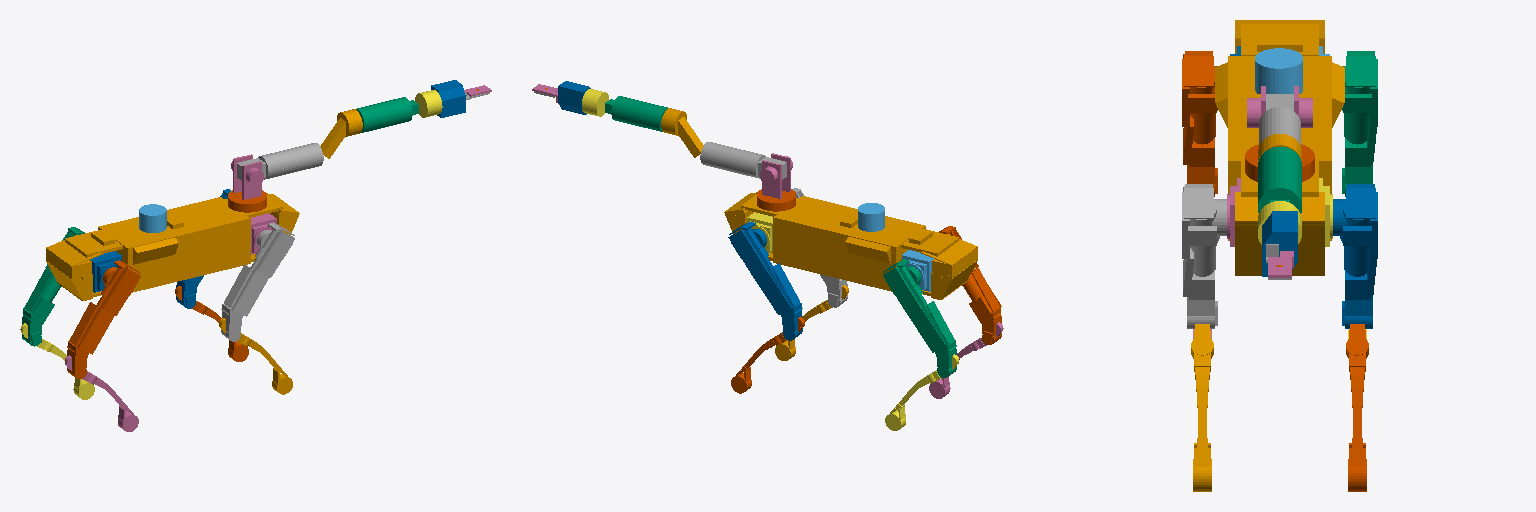
--- What the picture shows (computed from the rendered views, not written in the file) ---
Views: 3 orthographic renders of the robot side by side, from view 1: azimuth 30°, elevation 25°; view 2: azimuth 150°, elevation 25°; view 3: azimuth 270°, elevation 25°.
Robot: SpotArm — 78 links, 77 joints (18 revolute, 4 continuous, 3 prismatic, 52 fixed); root link base_link; default pose: all joints at 0.
Links seen in each view (by area): view 1: base_link, front right upperarm, rear right upperarm, rear left upperarm, spotarm_link2, spotarm_link5, spotarm_link1, spotarm_link3, front, front right forearm, rear right forearm, Velodyne_Puck (+6 smaller); view 2: base_link, front left upperarm, rear left upperarm, rear right upperarm, spotarm_link2, spotarm_link5, spotarm_link1, spotarm_link3, rear left forearm, front left forearm, front, Velodyne_Puck (+6 smaller); view 3: base_link, front right upperarm, front left upperarm, rear right upperarm, rear left upperarm, front right forearm, front left forearm, spotarm_link5, Velodyne_Puck, spotarm_link2, front, spotarm_link1 (+4 smaller).
Link boxes in pixels (x1,y1,x2,y2): base_link: (46,193,299,300); front right upperarm: (221,223,294,341); rear right upperarm: (67,260,140,378); rear left upperarm: (22,227,84,346); spotarm_link2: (237,143,323,180); spotarm_link5: (356,97,418,132); spotarm_link1: (231,154,263,199); spotarm_link3: (320,109,362,158); front: (431,80,465,117); front right forearm: (219,318,292,394); rear right forearm: (65,355,138,431); Velodyne_Puck: (139,204,166,232); base_link: (724,192,977,299); front left upperarm: (728,222,802,340); rear left upperarm: (883,259,956,377); rear right upperarm: (939,226,1001,344); spotarm_link2: (700,142,786,179); spotarm_link5: (605,96,667,131); spotarm_link1: (760,153,792,198); spotarm_link3: (661,108,703,157); rear left forearm: (885,354,958,430); front left forearm: (731,317,804,393); front: (558,81,590,114); Velodyne_Puck: (858,203,884,231); base_link: (1215,20,1344,275); front right upperarm: (1182,184,1226,328); front left upperarm: (1333,184,1377,328); rear right upperarm: (1182,51,1217,196); rear left upperarm: (1342,51,1377,196); front right forearm: (1191,324,1213,491); front left forearm: (1346,324,1368,491); spotarm_link5: (1258,147,1301,213); Velodyne_Puck: (1255,48,1302,93); spotarm_link2: (1259,94,1300,145); front: (1262,211,1297,276); spotarm_link1: (1247,86,1312,127).
Bounding box of the posed robot: 1.94 × 0.42 × 1.02 m (x, y, z).
Geometry: primitives only (box / cylinder / sphere), no mesh files.

The robot description file, URDF, robot "SpotArm":
<?xml version="1.0"?>
<robot name="SpotArm">
  <webots>
    <plugin type="webots_ros2_control::Ros2Control"/>
  </webots>
  <ros2_control name="WebotsControl" type="system">
    <hardware>
      <plugin>webots_ros2_control::Ros2ControlSystem</plugin>
    </hardware>

    <!-- SpotArm -->
    <joint name="spotarm_1_joint">
      <command_interface name="position">
        </command_interface>
      <state_interface name="position"/>
      <state_interface name="velocity"/>
    </joint>
    <joint name="spotarm_2_joint">
      <command_interface name="position">
        </command_interface>
      <state_interface name="position"/>
      <state_interface name="velocity"/>
    </joint>
    <joint name="spotarm_3_joint">
      <command_interface name="position">
        </command_interface>
      <state_interface name="position"/>
      <state_interface name="velocity"/>
    </joint>
    <joint name="spotarm_4_joint">
      <command_interface name="position">
        </command_interface>
      <state_interface name="position"/>
      <state_interface name="velocity"/>
    </joint>
    <joint name="Slider11">
      <command_interface name="position">
        </command_interface>
      <state_interface name="position"/>
      <state_interface name="velocity"/>
    </joint>
    <joint name="spotarm_5_joint">
      <command_interface name="position">
        </command_interface>
      <state_interface name="position"/>
      <state_interface name="velocity"/>
    </joint>
    <joint name="spotarm_6_joint">
      <command_interface name="position">
        </command_interface>
      <state_interface name="position"/>
      <state_interface name="velocity"/>
    </joint>

    <!-- Tiago Gripper -->
    <joint name="gripper_left_finger_joint">
      <command_interface name="position">
        </command_interface>
      <state_interface name="position"/>
      <state_interface name="velocity"/>
    </joint>
    <joint name="gripper_right_finger_joint">
      <command_interface name="position">
        </command_interface>
      <state_interface name="position"/>
      <state_interface name="velocity"/>
    </joint>
  </ros2_control>

  <link name="base_link">
    <visual>
      <origin xyz="0.462094 0 -0.000232" rpy="1.127615 -0.00001 -1.570793"/>
      <geometry>
        <box size="0.192453 0.177358 0.043396"/>
      </geometry>
    </visual>
    <collision>
      <origin xyz="0.462094 0 -0.000232" rpy="1.127615 -0.00001 -1.570793"/>
      <geometry>
        <box size="0.192453 0.177358 0.043396"/>
      </geometry>
    </collision>
    <visual>
      <origin xyz="0.477932 0 0.084013" rpy="1.217205 -0.000011 -1.570792"/>
      <geometry>
        <box size="0.192453 0.018113 0.08717"/>
      </geometry>
    </visual>
    <collision>
      <origin xyz="0.477932 0 0.084013" rpy="1.217205 -0.000011 -1.570792"/>
      <geometry>
        <box size="0.192453 0.018113 0.08717"/>
      </geometry>
    </collision>
    <visual>
      <origin xyz="0.451833 0 0.041304" rpy="0 0 0"/>
      <geometry>
        <box size="0.037736 0.192453 0.102642"/>
      </geometry>
    </visual>
    <collision>
      <origin xyz="0.451833 0 0.041304" rpy="0 0 0"/>
      <geometry>
        <box size="0.037736 0.192453 0.102642"/>
      </geometry>
    </collision>
    <visual>
      <origin xyz="0.031113 0 0.018833" rpy="0 0 0"/>
      <geometry>
        <box size="0.535849 0.222642 0.189434"/>
      </geometry>
    </visual>
    <collision>
      <origin xyz="0.031113 0 0.018833" rpy="0 0 0"/>
      <geometry>
        <box size="0.535849 0.222642 0.189434"/>
      </geometry>
    </collision>
    <visual>
      <origin xyz="0.376019 0 0.107135" rpy="0 0 0"/>
      <geometry>
        <box size="0.158491 0.166038 0.013208"/>
      </geometry>
    </visual>
    <collision>
      <origin xyz="0.376019 0 0.107135" rpy="0 0 0"/>
      <geometry>
        <box size="0.158491 0.166038 0.013208"/>
      </geometry>
    </collision>
    <visual>
      <origin xyz="0.363578 0 -0.079657" rpy="1.537614 -0.00001 -1.570793"/>
      <geometry>
        <box size="0.166038 0.013208 0.124528"/>
      </geometry>
    </visual>
    <collision>
      <origin xyz="0.363578 0 -0.079657" rpy="1.537614 -0.00001 -1.570793"/>
      <geometry>
        <box size="0.166038 0.013208 0.124528"/>
      </geometry>
    </collision>
    <visual>
      <origin xyz="-0.319453 0 0.107135" rpy="0 0 0"/>
      <geometry>
        <box size="0.158491 0.166038 0.013208"/>
      </geometry>
    </visual>
    <collision>
      <origin xyz="-0.319453 0 0.107135" rpy="0 0 0"/>
      <geometry>
        <box size="0.158491 0.166038 0.013208"/>
      </geometry>
    </collision>
    <visual>
      <origin xyz="-0.313025 0 -0.064563" rpy="0 0 0"/>
      <geometry>
        <box size="0.14717 0.166038 0.013208"/>
      </geometry>
    </visual>
    <collision>
      <origin xyz="-0.313025 0 -0.064563" rpy="0 0 0"/>
      <geometry>
        <box size="0.14717 0.166038 0.013208"/>
      </geometry>
    </collision>
    <visual>
      <origin xyz="-0.120195 0.111629 0.074886" rpy="1.5708 -0.423195 -1.570794"/>
      <geometry>
        <box size="0.030189 0.064528 0.182264"/>
      </geometry>
    </visual>
    <collision>
      <origin xyz="-0.120195 0.111629 0.074886" rpy="1.5708 -0.423195 -1.570794"/>
      <geometry>
        <box size="0.030189 0.064528 0.182264"/>
      </geometry>
    </collision>
    <visual>
      <origin xyz="-0.120195 -0.111629 0.074886" rpy="1.5708 0.423174 -1.570793"/>
      <geometry>
        <box size="0.030189 0.064528 0.182264"/>
      </geometry>
    </visual>
    <collision>
      <origin xyz="-0.120195 -0.111629 0.074886" rpy="1.5708 0.423174 -1.570793"/>
      <geometry>
        <box size="0.030189 0.064528 0.182264"/>
      </geometry>
    </collision>
    <visual>
      <origin xyz="-0.427377 0 0.059588" rpy="0 0 0"/>
      <geometry>
        <box size="0.089057 0.192453 0.05283"/>
      </geometry>
    </visual>
    <collision>
      <origin xyz="-0.427377 0 0.059588" rpy="0 0 0"/>
      <geometry>
        <box size="0.089057 0.192453 0.05283"/>
      </geometry>
    </collision>
    <visual>
      <origin xyz="-0.404 0 0.096611" rpy="1.730798 -0.000011 -1.570794"/>
      <geometry>
        <box size="0.193585 0.003774 0.135849"/>
      </geometry>
    </visual>
    <collision>
      <origin xyz="-0.404 0 0.096611" rpy="1.730798 -0.000011 -1.570794"/>
      <geometry>
        <box size="0.193585 0.003774 0.135849"/>
      </geometry>
    </collision>
    <visual>
      <origin xyz="-0.400585 0 -0.018903" rpy="0 0 0"/>
      <geometry>
        <box size="0.04566 0.191698 0.103396"/>
      </geometry>
    </visual>
    <collision>
      <origin xyz="-0.400585 0 -0.018903" rpy="0 0 0"/>
      <geometry>
        <box size="0.04566 0.191698 0.103396"/>
      </geometry>
    </collision>
    <visual>
      <origin xyz="-0.431528 0 -0.008337" rpy="2.0308 -0.00001 -1.570793"/>
      <geometry>
        <box size="0.193585 0.109434 0.037736"/>
      </geometry>
    </visual>
    <collision>
      <origin xyz="-0.431528 0 -0.008337" rpy="2.0308 -0.00001 -1.570793"/>
      <geometry>
        <box size="0.193585 0.109434 0.037736"/>
      </geometry>
    </collision>
    <visual>
      <origin xyz="-0.28 0 0.121" rpy="0 0 0"/>
      <geometry>
        <box size="0.05 0.1 0.02"/>
      </geometry>
    </visual>
    <collision>
      <origin xyz="-0.28 0 0.121" rpy="0 0 0"/>
      <geometry>
        <box size="0.05 0.1 0.02"/>
      </geometry>
    </collision>
    <visual>
      <origin xyz="0.02 0 0.121" rpy="0 0 0"/>
      <geometry>
        <box size="0.05 0.1 0.02"/>
      </geometry>
    </visual>
    <collision>
      <origin xyz="0.02 0 0.121" rpy="0 0 0"/>
      <geometry>
        <box size="0.05 0.1 0.02"/>
      </geometry>
    </collision>
  </link>
  <link name="Velodyne_Puck">
    <visual>
      <origin xyz="0 -0.00165 0" rpy="0 0 0"/>
      <geometry>
        <cylinder radius="0.052" length="0.0727"/>
      </geometry>
    </visual>
    <collision>
      <origin xyz="0 -0.00165 0" rpy="0 0 0"/>
      <geometry>
        <cylinder radius="0.052" length="0.0727"/>
      </geometry>
    </collision>
  </link>
  <joint name="base_link_Velodyne_Puck_joint" type="fixed">
    <parent link="base_link"/>
    <child link="Velodyne_Puck"/>
    <origin xyz="-0.063 0 0.1518" rpy="-0.000008 -0.000008 0.000001"/>
  </joint>
  <link name="solid">
  </link>
  <joint name="base_link_solid_joint" type="fixed">
    <parent link="base_link"/>
    <child link="solid"/>
    <origin xyz="0.496831 0.000001 0.104801" rpy="1.2208 -0.00001 -1.570793"/>
  </joint>
  <link name="kinect range">
  </link>
  <joint name="solid_kinect range_joint" type="fixed">
    <parent link="solid"/>
    <child link="kinect range"/>
    <origin xyz="0 0 -0.0127" rpy="-0.785397 1.570792 0.785397"/>
  </joint>
  <link name="kinect color">
  </link>
  <joint name="solid_kinect color_joint" type="fixed">
    <parent link="solid"/>
    <child link="kinect color"/>
    <origin xyz="0 0 -0.0127" rpy="-2.356193 1.570792 -0.7854"/>
  </joint>
  <link name="SpotArm">
    <visual>
      <origin xyz="0 0 0.021" rpy="0 0 0"/>
      <geometry>
        <cylinder radius="0.075" length="0.035"/>
      </geometry>
    </visual>
    <collision>
      <origin xyz="0 0 0.021" rpy="0 0 0"/>
      <geometry>
        <cylinder radius="0.075" length="0.035"/>
      </geometry>
    </collision>
  </link>
  <joint name="base_link_SpotArm_joint" type="fixed">
    <parent link="base_link"/>
    <child link="SpotArm"/>
    <origin xyz="0.35 0 0.1118" rpy="-0.000017 -0.000003 0.000005"/>
  </joint>
  <joint name="spotarm_1_joint" type="revolute">
    <parent link="SpotArm"/>
    <child link="spotarm_link1"/>
    <axis xyz="0 0 1"/>
    <limit effort="500" lower="-2.61799" upper="3.14159" velocity="2.5"/>
    <origin xyz="0 0 0.04" rpy="0 0 0"/>
  </joint>
  <link name="spotarm_link1">
    <visual>
      <origin xyz="0 -0.035 0.076" rpy="3.141593 1.570793 3.141593"/>
      <geometry>
        <box size="0.14 0.01 0.08"/>
      </geometry>
    </visual>
    <collision>
      <origin xyz="0 -0.035 0.076" rpy="3.141593 1.570793 3.141593"/>
      <geometry>
        <box size="0.14 0.01 0.08"/>
      </geometry>
    </collision>
    <visual>
      <origin xyz="0 0.035 0.076" rpy="3.141593 1.570793 3.141593"/>
      <geometry>
        <box size="0.14 0.01 0.08"/>
      </geometry>
    </visual>
    <collision>
      <origin xyz="0 0.035 0.076" rpy="3.141593 1.570793 3.141593"/>
      <geometry>
        <box size="0.14 0.01 0.08"/>
      </geometry>
    </collision>
    <visual>
      <origin xyz="0 -0.0555 0.1" rpy="1.5708 0 0"/>
      <geometry>
        <cylinder radius="0.032" length="0.031"/>
      </geometry>
    </visual>
    <collision>
      <origin xyz="0 -0.0555 0.1" rpy="1.5708 0 0"/>
      <geometry>
        <cylinder radius="0.032" length="0.031"/>
      </geometry>
    </collision>
    <visual>
      <origin xyz="0 0.0555 0.1" rpy="1.5708 0 0"/>
      <geometry>
        <cylinder radius="0.032" length="0.031"/>
      </geometry>
    </visual>
    <collision>
      <origin xyz="0 0.0555 0.1" rpy="1.5708 0 0"/>
      <geometry>
        <cylinder radius="0.032" length="0.031"/>
      </geometry>
    </collision>
  </link>
  <joint name="spotarm_2_joint" type="revolute">
    <parent link="spotarm_link1"/>
    <child link="spotarm_link2"/>
    <axis xyz="0 -1 0"/>
    <limit effort="500" lower="-0.523599" upper="3.14159" velocity="2.5"/>
    <origin xyz="0 0.03 0.1" rpy="0 0 0"/>
  </joint>
  <link name="spotarm_link2">
    <visual>
      <origin xyz="0.017 -0.03 0" rpy="3.141593 1.570793 3.141593"/>
      <geometry>
        <box size="0.06 0.059 0.093"/>
      </geometry>
    </visual>
    <collision>
      <origin xyz="0.017 -0.03 0" rpy="3.141593 1.570793 3.141593"/>
      <geometry>
        <box size="0.06 0.059 0.093"/>
      </geometry>
    </collision>
    <visual>
      <origin xyz="0.185 -0.03 0" rpy="3.141593 1.570793 3.141593"/>
      <geometry>
        <cylinder radius="0.0456" length="0.24"/>
      </geometry>
    </visual>
    <collision>
      <origin xyz="0.185 -0.03 0" rpy="3.141593 1.570793 3.141593"/>
      <geometry>
        <cylinder radius="0.0456" length="0.24"/>
      </geometry>
    </collision>
  </link>
  <joint name="spotarm_3_joint" type="revolute">
    <parent link="spotarm_link2"/>
    <child link="spotarm_link3"/>
    <axis xyz="0 1 0"/>
    <limit effort="500" lower="0" upper="3.0" velocity="2.5"/>
    <origin xyz="0.3385 -0.02 0.000137" rpy="0 0 0"/>
  </joint>
  <link name="spotarm_link3">
    <visual>
      <origin xyz="0.044 -0.01 0.0514" rpy="3.141593 0.851593 3.141593"/>
      <geometry>
        <box size="0.16 0.041 0.04"/>
      </geometry>
    </visual>
    <collision>
      <origin xyz="0.044 -0.01 0.0514" rpy="3.141593 0.851593 3.141593"/>
      <geometry>
        <box size="0.16 0.041 0.04"/>
      </geometry>
    </collision>
    <visual>
      <origin xyz="0.1065 -0.01 0.0973" rpy="3.141593 1.570793 3.141593"/>
      <geometry>
        <cylinder radius="0.0477" length="0.059"/>
      </geometry>
    </visual>
    <collision>
      <origin xyz="0.1065 -0.01 0.0973" rpy="3.141593 1.570793 3.141593"/>
      <geometry>
        <cylinder radius="0.0477" length="0.059"/>
      </geometry>
    </collision>
  </link>
  <joint name="spotarm_4_joint" type="revolute">
    <parent link="spotarm_link3"/>
    <child link="spotarm_link4"/>
    <axis xyz="1 0 0"/>
    <limit effort="500" lower="-4.3633" upper="1.22173" velocity="2.5"/>
    <origin xyz="0.107 -0.01 0.09734" rpy="0 0 0"/>
  </joint>
  <link name="spotarm_link4">
  </link>
  <joint name="Slider11" type="prismatic">
    <parent link="spotarm_link4"/>
    <child link="spotarm_link5"/>
    <axis xyz="1 0 0"/>
    <origin xyz="0.035 0 0" rpy="0 0 0"/>
    <limit effort="100" lower="0" upper="0.075" velocity="100"/>
  </joint>
  <link name="spotarm_link5">
    <visual>
      <origin xyz="0.232 0 0" rpy="3.141593 1.570793 3.141593"/>
      <geometry>
        <box size="0.04 0.044 0.042"/>
      </geometry>
    </visual>
    <collision>
      <origin xyz="0.232 0 0" rpy="3.141593 1.570793 3.141593"/>
      <geometry>
        <box size="0.04 0.044 0.042"/>
      </geometry>
    </collision>
    <visual>
      <origin xyz="0.106 0 0" rpy="3.141593 1.570793 3.141593"/>
      <geometry>
        <cylinder radius="0.0477" length="0.21"/>
      </geometry>
    </visual>
    <collision>
      <origin xyz="0.106 0 0" rpy="3.141593 1.570793 3.141593"/>
      <geometry>
        <cylinder radius="0.0477" length="0.21"/>
      </geometry>
    </collision>
  </link>
  <joint name="spotarm_5_joint" type="revolute">
    <parent link="spotarm_link5"/>
    <child link="spotarm_link6"/>
    <axis xyz="0 1 0"/>
    <limit effort="500" lower="-1.0472" upper="1.0472" velocity="2.5"/>
    <origin xyz="0.2413 0.01 0" rpy="0 0 0"/>
  </joint>
  <link name="spotarm_link6">
    <visual>
      <origin xyz="0.0671 -0.0105 0" rpy="3.141593 1.570793 3.141593"/>
      <geometry>
        <cylinder radius="0.0477" length="0.065"/>
      </geometry>
    </visual>
    <collision>
      <origin xyz="0.0671 -0.0105 0" rpy="3.141593 1.570793 3.141593"/>
      <geometry>
        <cylinder radius="0.0477" length="0.065"/>
      </geometry>
    </collision>
  </link>
  <joint name="spotarm_6_joint" type="revolute">
    <parent link="spotarm_link6"/>
    <child link="front"/>
    <axis xyz="0.000004 0 1"/>
    <limit effort="500" lower="-4.45059" upper="1.30899" velocity="2.5"/>
    <origin xyz="0.1 -0.0105 0" rpy="3.141593 -1.570793 3.141593"/>
  </joint>
  <link name="front">
    <visual>
      <origin xyz="0 0.0005 -0.007" rpy="0 0 0"/>
      <geometry>
        <cylinder radius="0.0227" length="0.028"/>
      </geometry>
    </visual>
    <collision>
      <origin xyz="0 0.0005 -0.007" rpy="0 0 0"/>
      <geometry>
        <cylinder radius="0.0227" length="0.028"/>
      </geometry>
    </collision>
    <visual>
      <origin xyz="0.029 -0.01784 -0.053" rpy="0 0 0.59"/>
      <geometry>
        <box size="0.04 0.0217 0.105"/>
      </geometry>
    </visual>
    <collision>
      <origin xyz="0.029 -0.01784 -0.053" rpy="0 0 0.59"/>
      <geometry>
        <box size="0.04 0.0217 0.105"/>
      </geometry>
    </collision>
    <visual>
      <origin xyz="-0.029 0.01884 -0.053" rpy="0 0 0.59"/>
      <geometry>
        <box size="0.04 0.0217 0.105"/>
      </geometry>
    </visual>
    <collision>
      <origin xyz="-0.029 0.01884 -0.053" rpy="0 0 0.59"/>
      <geometry>
        <box size="0.04 0.0217 0.105"/>
      </geometry>
    </collision>
    <visual>
      <origin xyz="0.0172 0.0114 -0.053" rpy="3.141593 -1.570793 3.141593"/>
      <geometry>
        <box size="0.106 0.056 0.071"/>
      </geometry>
    </visual>
    <collision>
      <origin xyz="0.0172 0.0114 -0.053" rpy="3.141593 -1.570793 3.141593"/>
      <geometry>
        <box size="0.106 0.056 0.071"/>
      </geometry>
    </collision>
    <visual>
      <origin xyz="-0.0172 -0.0104 -0.053" rpy="3.141593 -1.570793 3.141593"/>
      <geometry>
        <box size="0.106 0.056 0.071"/>
      </geometry>
    </visual>
    <collision>
      <origin xyz="-0.0172 -0.0104 -0.053" rpy="3.141593 -1.570793 3.141593"/>
      <geometry>
        <box size="0.106 0.056 0.071"/>
      </geometry>
    </collision>
  </link>
  <link name="gripper_centre">
    <visual>
      <origin xyz="0 0 0" rpy="0 0 0"/>
      <geometry>
        <sphere radius="0.01"/>
      </geometry>
    </visual>
  </link>
  <joint name="gripper_centre_joint" type="fixed">
    <parent link="front"/>
    <child link="gripper_centre"/>
    <origin xyz="0 0 -0.18" rpy="0 0 0"/>
  </joint>
  <joint name="gripper_right_finger_joint" type="prismatic">
    <parent link="front"/>
    <child link="gripper_right_finger_link"/>
    <axis xyz="1 0 0"/>
    <origin xyz="0 0.0005 -0.007" rpy="0 0 0"/>
    <limit effort="16" lower="0" upper="0.045" velocity="0.05"/>
  </joint>
  <link name="gripper_right_finger_link">
    <visual>
      <origin xyz="0.004 0 -0.1741" rpy="0 0 0"/>
      <geometry>
        <box size="0.0076 0.05091 0.08982"/>
      </geometry>
    </visual>
    <collision>
      <origin xyz="0.004 0 -0.1741" rpy="0 0 0"/>
      <geometry>
        <box size="0.0076 0.05091 0.08982"/>
      </geometry>
    </collision>
    <visual>
      <origin xyz="0.0049 0.0153 -0.1208" rpy="0 0 0"/>
      <geometry>
        <box size="0.0055 0.0295 0.018"/>
      </geometry>
    </visual>
    <collision>
      <origin xyz="0.0049 0.0153 -0.1208" rpy="0 0 0"/>
      <geometry>
        <box size="0.0055 0.0295 0.018"/>
      </geometry>
    </collision>
    <visual>
      <origin xyz="-0.0085 0.0156 -0.1048" rpy="0 0 0"/>
      <geometry>
        <box size="0.03213 0.02959 0.01487"/>
      </geometry>
    </visual>
    <collision>
      <origin xyz="-0.0085 0.0156 -0.1048" rpy="0 0 0"/>
      <geometry>
        <box size="0.03213 0.02959 0.01487"/>
      </geometry>
    </collision>
  </link>
  <joint name="gripper_left_finger_joint" type="prismatic">
    <parent link="front"/>
    <child link="gripper_left_finger_link"/>
    <axis xyz="1 0.000093 0"/>
    <origin xyz="0 0 0" rpy="0 0 3.1415"/>
    <limit effort="16" lower="0" upper="0.045" velocity="0.05"/>
  </joint>
  <link name="gripper_left_finger_link">
    <visual>
      <origin xyz="0.004 0 -0.1741" rpy="0 0 0"/>
      <geometry>
        <box size="0.0076 0.05091 0.08982"/>
      </geometry>
    </visual>
    <collision>
      <origin xyz="0.004 0 -0.1741" rpy="0 0 0"/>
      <geometry>
        <box size="0.0076 0.05091 0.08982"/>
      </geometry>
    </collision>
    <visual>
      <origin xyz="0.0049 0.0153 -0.1208" rpy="0 0 0"/>
      <geometry>
        <box size="0.0055 0.0295 0.018"/>
      </geometry>
    </visual>
    <collision>
      <origin xyz="0.0049 0.0153 -0.1208" rpy="0 0 0"/>
      <geometry>
        <box size="0.0055 0.0295 0.018"/>
      </geometry>
    </collision>
    <visual>
      <origin xyz="-0.0085 0.0156 -0.1048" rpy="0 0 0"/>
      <geometry>
        <box size="0.03213 0.02959 0.01487"/>
      </geometry>
    </visual>
    <collision>
      <origin xyz="-0.0085 0.0156 -0.1048" rpy="0 0 0"/>
      <geometry>
        <box size="0.03213 0.02959 0.01487"/>
      </geometry>
    </collision>
  </link>
  <link name="cap screw(19)">
  </link>
  <joint name="front_cap screw(19)_joint" type="fixed">
    <parent link="front"/>
    <child link="cap screw(19)"/>
    <origin xyz="0.0415 -0.0029 -0.0004" rpy="3.14159 0 0"/>
  </joint>
  <link name="cap screw(18)">
  </link>
  <joint name="front_cap screw(18)_joint" type="fixed">
    <parent link="front"/>
    <child link="cap screw(18)"/>
    <origin xyz="-0.0415 0.0029 -0.0004" rpy="3.14159 0 0"/>
  </joint>
  <link name="cap screw(17)">
  </link>
  <joint name="front_cap screw(17)_joint" type="fixed">
    <parent link="front"/>
    <child link="cap screw(17)"/>
    <origin xyz="0.0433 0.0315 0.0026" rpy="3.14159 0 0"/>
  </joint>
  <link name="cap screw(16)">
  </link>
  <joint name="front_cap screw(16)_joint" type="fixed">
    <parent link="front"/>
    <child link="cap screw(16)"/>
    <origin xyz="-0.0433 -0.0315 0.0026" rpy="3.14159 0 0"/>
  </joint>
  <link name="cap screw(15)">
  </link>
  <joint name="front_cap screw(15)_joint" type="fixed">
    <parent link="front"/>
    <child link="cap screw(15)"/>
    <origin xyz="0 0.033 0.0026" rpy="3.14159 0 0"/>
  </joint>
  <link name="cap screw(14)">
  </link>
  <joint name="front_cap screw(14)_joint" type="fixed">
    <parent link="front"/>
    <child link="cap screw(14)"/>
    <origin xyz="0 -0.033 0.0026" rpy="3.14159 0 0"/>
  </joint>
  <link name="cap screw(13)">
  </link>
  <joint name="front_cap screw(13)_joint" type="fixed">
    <parent link="front"/>
    <child link="cap screw(13)"/>
    <origin xyz="0.0426 -0.0094 -0.09448" rpy="0 0 0"/>
  </joint>
  <link name="cap screw(12)">
  </link>
  <joint name="front_cap screw(12)_joint" type="fixed">
    <parent link="front"/>
    <child link="cap screw(12)"/>
    <origin xyz="-0.0425 0.0094 -0.0945" rpy="0 0 0"/>
  </joint>
  <link name="cap screw(11)">
  </link>
  <joint name="front_cap screw(11)_joint" type="fixed">
    <parent link="front"/>
    <child link="cap screw(11)"/>
    <origin xyz="-0.0477 -0.008 -0.0108" rpy="3.141593 1.570793 3.141593"/>
  </joint>
  <link name="cap screw(10)">
  </link>
  <joint name="front_cap screw(10)_joint" type="fixed">
    <parent link="front"/>
    <child link="cap screw(10)"/>
    <origin xyz="-0.0477 -0.008 -0.043" rpy="3.141593 1.570793 3.141593"/>
  </joint>
  <link name="cap screw(9)">
  </link>
  <joint name="front_cap screw(9)_joint" type="fixed">
    <parent link="front"/>
    <child link="cap screw(9)"/>
    <origin xyz="-0.0477 -0.008 -0.075" rpy="3.141593 1.570793 3.141593"/>
  </joint>
  <link name="cap screw(8)">
  </link>
  <joint name="front_cap screw(8)_joint" type="fixed">
    <parent link="front"/>
    <child link="cap screw(8)"/>
    <origin xyz="-0.0477 0.008 -0.075" rpy="3.141593 1.570793 3.141593"/>
  </joint>
  <link name="cap screw(7)">
  </link>
  <joint name="front_cap screw(7)_joint" type="fixed">
    <parent link="front"/>
    <child link="cap screw(7)"/>
    <origin xyz="-0.0477 0.008 -0.043" rpy="3.141593 1.570793 3.141593"/>
  </joint>
  <link name="cap screw(6)">
  </link>
  <joint name="front_cap screw(6)_joint" type="fixed">
    <parent link="front"/>
    <child link="cap screw(6)"/>
    <origin xyz="-0.0477 0.008 -0.0108" rpy="3.141593 1.570793 3.141593"/>
  </joint>
  <link name="cap screw(5)">
  </link>
  <joint name="front_cap screw(5)_joint" type="fixed">
    <parent link="front"/>
    <child link="cap screw(5)"/>
    <origin xyz="0.0477 -0.008 -0.0108" rpy="3.141593 -1.570793 3.141593"/>
  </joint>
  <link name="cap screw(4)">
  </link>
  <joint name="front_cap screw(4)_joint" type="fixed">
    <parent link="front"/>
    <child link="cap screw(4)"/>
    <origin xyz="0.0477 -0.008 -0.043" rpy="3.141593 -1.570793 3.141593"/>
  </joint>
  <link name="cap screw(3)">
  </link>
  <joint name="front_cap screw(3)_joint" type="fixed">
    <parent link="front"/>
    <child link="cap screw(3)"/>
    <origin xyz="0.0477 -0.008 -0.075" rpy="3.141593 -1.570793 3.141593"/>
  </joint>
  <link name="cap screw(2)">
  </link>
  <joint name="front_cap screw(2)_joint" type="fixed">
    <parent link="front"/>
    <child link="cap screw(2)"/>
    <origin xyz="0.0477 0.008 -0.075" rpy="3.141593 -1.570793 3.141593"/>
  </joint>
  <link name="cap screw(1)">
  </link>
  <joint name="front_cap screw(1)_joint" type="fixed">
    <parent link="front"/>
    <child link="cap screw(1)"/>
    <origin xyz="0.0477 0.008 -0.043" rpy="3.141593 -1.570793 3.141593"/>
  </joint>
  <link name="cap screw">
  </link>
  <joint name="front_cap screw_joint" type="fixed">
    <parent link="front"/>
    <child link="cap screw"/>
    <origin xyz="0.0477 0.008 -0.0108" rpy="3.141593 -1.570793 3.141593"/>
  </joint>
  <joint name="rear right shoulder abduction motor" type="revolute">
    <parent link="base_link"/>
    <child link="rear right shoulder"/>
    <axis xyz="0 0 1"/>
    <limit effort="50" lower="-0.6" upper="0.5" velocity="10"/>
    <origin xyz="-0.3084 -0.0528 0.012301" rpy="1.5708 -0.00001 -1.570793"/>
  </joint>
  <link name="rear right shoulder">
    <visual>
      <origin xyz="-0.004874 0.000873 -0.000643" rpy="0 0 0"/>
      <geometry>
        <box size="0.086792 0.124528 0.120755"/>
      </geometry>
    </visual>
    <collision>
      <origin xyz="-0.004874 0.000873 -0.000643" rpy="0 0 0"/>
      <geometry>
        <box size="0.086792 0.124528 0.120755"/>
      </geometry>
    </collision>
    <visual>
      <origin xyz="0.006447 0.000873 -0.000643" rpy="0 0 0"/>
      <geometry>
        <box size="0.098113 0.098113 0.098113"/>
      </geometry>
    </visual>
    <collision>
      <origin xyz="0.006447 0.000873 -0.000643" rpy="0 0 0"/>
      <geometry>
        <box size="0.098113 0.098113 0.098113"/>
      </geometry>
    </collision>
    <visual>
      <origin xyz="0.058145 0.000873 -0.000643" rpy="-1.5708 0 1.5708"/>
      <geometry>
        <cylinder radius="0.047925" length="0.006038"/>
      </geometry>
    </visual>
    <collision>
      <origin xyz="0.058145 0.000873 -0.000643" rpy="-1.5708 0 1.5708"/>
      <geometry>
        <cylinder radius="0.047925" length="0.006038"/>
      </geometry>
    </collision>
  </link>
  <joint name="rear right shoulder rotation motor" type="revolute">
    <parent link="rear right shoulder"/>
    <child link="rear right upperarm"/>
    <axis xyz="1 0 0"/>
    <limit effort="50" lower="-1.7" upper="1.7" velocity="10"/>
    <origin xyz="0 -0.00053 0" rpy="0 0 0"/>
  </joint>
  <link name="rear right upperarm">
    <visual>
      <origin xyz="0.117011 -0.32073 0.1829" rpy="-1.5708 0 1.5708"/>
      <geometry>
        <cylinder radius="0.02717" length="0.060377"/>
      </geometry>
    </visual>
    <collision>
      <origin xyz="0.117011 -0.32073 0.1829" rpy="-1.5708 0 1.5708"/>
      <geometry>
        <cylinder radius="0.02717" length="0.060377"/>
      </geometry>
    </collision>
    <visual>
      <origin xyz="0.117011 -0.25867 0.180358" rpy="0 0.05 1.570795"/>
      <geometry>
        <box size="0.09434 0.060377 0.053208"/>
      </geometry>
    </visual>
    <collision>
      <origin xyz="0.117011 -0.25867 0.180358" rpy="0 0.05 1.570795"/>
      <geometry>
        <box size="0.09434 0.060377 0.053208"/>
      </geometry>
    </collision>
    <visual>
      <origin xyz="0.149087 -0.023654 0.007772" rpy="-0.656375 0 0"/>
      <geometry>
        <box size="0.016226 0.177358 0.071698"/>
      </geometry>
    </visual>
    <collision>
      <origin xyz="0.149087 -0.023654 0.007772" rpy="-0.656375 0 0"/>
      <geometry>
        <box size="0.016226 0.177358 0.071698"/>
      </geometry>
    </collision>
    <visual>
      <origin xyz="0.14944 -0.001095 0.048195" rpy="-0.688653 0.282831 -0.225783"/>
      <geometry>
        <box size="0.004528 0.173585 0.015094"/>
      </geometry>
    </visual>
    <collision>
      <origin xyz="0.14944 -0.001095 0.048195" rpy="-0.688653 0.282831 -0.225783"/>
      <geometry>
        <box size="0.004528 0.173585 0.015094"/>
      </geometry>
    </collision>
    <visual>
      <origin xyz="0.143963 -0.142325 0.149419" rpy="-0.689784 0.390399 -0.237371"/>
      <geometry>
        <box size="0.004528 0.173585 0.015094"/>
      </geometry>
    </visual>
    <collision>
      <origin xyz="0.143963 -0.142325 0.149419" rpy="-0.689784 0.390399 -0.237371"/>
      <geometry>
        <box size="0.004528 0.173585 0.015094"/>
      </geometry>
    </collision>
    <visual>
      <origin xyz="0.143376 -0.16295 0.113632" rpy="-0.64577 0.030504 0.039623"/>
      <geometry>
        <box size="0.016226 0.173585 0.071698"/>
      </geometry>
    </visual>
    <collision>
      <origin xyz="0.143376 -0.16295 0.113632" rpy="-0.64577 0.030504 0.039623"/>
      <geometry>
        <box size="0.016226 0.173585 0.071698"/>
      </geometry>
    </collision>
    <visual>
      <origin xyz="0.113992 -0.21476 0.154045" rpy="-0.656375 0 0"/>
      <geometry>
        <box size="0.054717 0.098113 0.064151"/>
      </geometry>
    </visual>
    <collision>
      <origin xyz="0.113992 -0.21476 0.154045" rpy="-0.656375 0 0"/>
      <geometry>
        <box size="0.054717 0.098113 0.064151"/>
      </geometry>
    </collision>
    <visual>
      <origin xyz="0.113238 -0.119427 0.086296" rpy="-2.227175 0 0"/>
      <geometry>
        <cylinder radius="0.028679" length="0.150943"/>
      </geometry>
    </visual>
    <collision>
      <origin xyz="0.113238 -0.119427 0.086296" rpy="-2.227175 0 0"/>
      <geometry>
        <cylinder radius="0.028679" length="0.150943"/>
      </geometry>
    </collision>
    <visual>
      <origin xyz="0.113238 -0.04459 0.028636" rpy="-2.227175 0 0"/>
      <geometry>
        <cylinder radius="0.037736" length="0.041509"/>
      </geometry>
    </visual>
    <collision>
      <origin xyz="0.113238 -0.04459 0.028636" rpy="-2.227175 0 0"/>
      <geometry>
        <cylinder radius="0.037736" length="0.041509"/>
      </geometry>
    </collision>
    <visual>
      <origin xyz="0.113738 -0.02284 -0.046726" rpy="-0.656375 0 0"/>
      <geometry>
        <box size="0.061509 0.069811 0.011321"/>
      </geometry>
    </visual>
    <collision>
      <origin xyz="0.113738 -0.02284 -0.046726" rpy="-0.656375 0 0"/>
      <geometry>
        <box size="0.061509 0.069811 0.011321"/>
      </geometry>
    </collision>
    <visual>
      <origin xyz="0.073615 -0.00019 -0.000689" rpy="-1.5708 0 1.5708"/>
      <geometry>
        <cylinder radius="0.04" length="0.037736"/>
      </geometry>
    </visual>
    <collision>
      <origin xyz="0.073615 -0.00019 -0.000689" rpy="-1.5708 0 1.5708"/>
      <geometry>
        <cylinder radius="0.04" length="0.037736"/>
      </geometry>
    </collision>
    <visual>
      <origin xyz="0.115879 0.008331 -0.011344" rpy="-2.227175 0 0"/>
      <geometry>
        <cylinder radius="0.033962" length="0.086792"/>
      </geometry>
    </visual>
    <collision>
      <origin xyz="0.115879 0.008331 -0.011344" rpy="-2.227175 0 0"/>
      <geometry>
        <cylinder radius="0.033962" length="0.086792"/>
      </geometry>
    </collision>
    <visual>
      <origin xyz="0.12154 0.053961 -0.047932" rpy="-0.656375 0 0"/>
      <geometry>
        <box size="0.064151 0.003774 0.071698"/>
      </geometry>
    </visual>
    <collision>
      <origin xyz="0.12154 0.053961 -0.047932" rpy="-0.656375 0 0"/>
      <geometry>
        <box size="0.064151 0.003774 0.071698"/>
      </geometry>
    </collision>
    <visual>
      <origin xyz="0.12003 0.073308 -0.006499" rpy="0.013625 0 0"/>
      <geometry>
        <box size="0.060377 0.007547 0.022642"/>
      </geometry>
    </visual>
    <collision>
      <origin xyz="0.12003 0.073308 -0.006499" rpy="0.013625 0 0"/>
      <geometry>
        <box size="0.060377 0.007547 0.022642"/>
      </geometry>
    </collision>
    <visual>
      <origin xyz="0.117011 -0.13635 0.154336" rpy="0.99 0 0"/>
      <geometry>
        <box size="0.049057 0.005283 0.169811"/>
      </geometry>
    </visual>
    <collision>
      <origin xyz="0.117011 -0.13635 0.154336" rpy="0.99 0 0"/>
      <geometry>
        <box size="0.049057 0.005283 0.169811"/>
      </geometry>
    </collision>
    <visual>
      <origin xyz="0.083111 -0.31378 0.182934" rpy="0 -0.076371 1.570798"/>
      <geometry>
        <box size="0.044 0.008 0.0387"/>
      </geometry>
    </visual>
    <collision>
      <origin xyz="0.083111 -0.31378 0.182934" rpy="0 -0.076371 1.570798"/>
      <geometry>
        <box size="0.044 0.008 0.0387"/>
      </geometry>
    </collision>
  </link>
  <joint name="rear right elbow motor" type="revolute">
    <parent link="rear right upperarm"/>
    <child link="rear right forearm"/>
    <axis xyz="1 0 0"/>
    <limit effort="50" lower="-0.45" upper="1.6" velocity="10"/>
    <origin xyz="0.1122 -0.319729 0.182338" rpy="0 0 0"/>
  </joint>
  <link name="rear right forearm">
    <visual>
      <origin xyz="0.001038 -0.271321 -0.225038" rpy="-1.5708 0 1.570801"/>
      <geometry>
        <cylinder radius="0.035094" length="0.039623"/>
      </geometry>
    </visual>
    <collision>
      <origin xyz="0.001038 -0.271321 -0.225038" rpy="-1.5708 0 1.570801"/>
      <geometry>
        <cylinder radius="0.035094" length="0.039623"/>
      </geometry>
    </collision>
    <visual>
      <origin xyz="0.001038 -0.227421 -0.230239" rpy="-0.947675 0 0"/>
      <geometry>
        <box size="0.037736 0.006038 0.041509"/>
      </geometry>
    </visual>
    <collision>
      <origin xyz="0.001038 -0.227421 -0.230239" rpy="-0.947675 0 0"/>
      <geometry>
        <box size="0.037736 0.006038 0.041509"/>
      </geometry>
    </collision>
    <visual>
      <origin xyz="0.001038 -0.232272 -0.198255" rpy="-0.093185 0 0"/>
      <geometry>
        <box size="0.037736 0.045283 0.006792"/>
      </geometry>
    </visual>
    <collision>
      <origin xyz="0.001038 -0.232272 -0.198255" rpy="-0.093185 0 0"/>
      <geometry>
        <box size="0.037736 0.045283 0.006792"/>
      </geometry>
    </collision>
    <visual>
      <origin xyz="0.001038 -0.205751 -0.206348" rpy="0.616815 0 0"/>
      <geometry>
        <box size="0.025283 0.022642 0.020755"/>
      </geometry>
    </visual>
    <collision>
      <origin xyz="0.001038 -0.205751 -0.206348" rpy="0.616815 0 0"/>
      <geometry>
        <box size="0.025283 0.022642 0.020755"/>
      </geometry>
    </collision>
    <visual>
      <origin xyz="0.001038 -0.168611 -0.18111" rpy="-2.513185 0 0"/>
      <geometry>
        <box size="0.019245 0.071698 0.017358"/>
      </geometry>
    </visual>
    <collision>
      <origin xyz="0.001038 -0.168611 -0.18111" rpy="-2.513185 0 0"/>
      <geometry>
        <box size="0.019245 0.071698 0.017358"/>
      </geometry>
    </collision>
    <visual>
      <origin xyz="0.001038 -0.125111 -0.148236" rpy="0.663625 0 0"/>
      <geometry>
        <box size="0.021887 0.037736 0.018491"/>
      </geometry>
    </visual>
    <collision>
      <origin xyz="0.001038 -0.125111 -0.148236" rpy="0.663625 0 0"/>
      <geometry>
        <box size="0.021887 0.037736 0.018491"/>
      </geometry>
    </collision>
    <visual>
      <origin xyz="0.001038 -0.100861 -0.126163" rpy="0.760415 0 0"/>
      <geometry>
        <box size="0.026415 0.030189 0.021132"/>
      </geometry>
    </visual>
    <collision>
      <origin xyz="0.001038 -0.100861 -0.126163" rpy="0.760415 0 0"/>
      <geometry>
        <box size="0.026415 0.030189 0.021132"/>
      </geometry>
    </collision>
    <visual>
      <origin xyz="0.001038 -0.084241 -0.106843" rpy="0.867225 0 0"/>
      <geometry>
        <box size="0.032453 0.022642 0.024528"/>
      </geometry>
    </visual>
    <collision>
      <origin xyz="0.001038 -0.084241 -0.106843" rpy="0.867225 0 0"/>
      <geometry>
        <box size="0.032453 0.022642 0.024528"/>
      </geometry>
    </collision>
    <visual>
      <origin xyz="0.001038 -0.068551 -0.08661" rpy="0.907225 0 0"/>
      <geometry>
        <box size="0.037736 0.033962 0.026415"/>
      </geometry>
    </visual>
    <collision>
      <origin xyz="0.001038 -0.068551 -0.08661" rpy="0.907225 0 0"/>
      <geometry>
        <box size="0.037736 0.033962 0.026415"/>
      </geometry>
    </collision>
    <visual>
      <origin xyz="0.001038 -0.049721 -0.059227" rpy="0.933245 0 0"/>
      <geometry>
        <cylinder radius="0.024528" length="0.030566"/>
      </geometry>
    </visual>
    <collision>
      <origin xyz="0.001038 -0.049721 -0.059227" rpy="0.933245 0 0"/>
      <geometry>
        <cylinder radius="0.024528" length="0.030566"/>
      </geometry>
    </collision>
    <visual>
      <origin xyz="0.001038 -0.034991 -0.038166" rpy="0.937225 0 0"/>
      <geometry>
        <box size="0.038113 0.022642 0.032075"/>
      </geometry>
    </visual>
    <collision>
      <origin xyz="0.001038 -0.034991 -0.038166" rpy="0.937225 0 0"/>
      <geometry>
        <box size="0.038113 0.022642 0.032075"/>
      </geometry>
    </collision>
    <visual>
      <origin xyz="0.001038 -0.022931 -0.021744" rpy="0.937225 0 0"/>
      <geometry>
        <box size="0.031321 0.018868 0.03283"/>
      </geometry>
    </visual>
    <collision>
      <origin xyz="0.001038 -0.022931 -0.021744" rpy="0.937225 0 0"/>
      <geometry>
        <box size="0.031321 0.018868 0.03283"/>
      </geometry>
    </collision>
    <visual>
      <origin xyz="0.001038 -0.010711 -0.006332" rpy="0.834035 0 0"/>
      <geometry>
        <box size="0.027925 0.018868 0.03283"/>
      </geometry>
    </visual>
    <collision>
      <origin xyz="0.001038 -0.010711 -0.006332" rpy="0.834035 0 0"/>
      <geometry>
        <box size="0.027925 0.018868 0.03283"/>
      </geometry>
    </collision>
    <visual>
      <origin xyz="0.001038 0.004299 0.006862" rpy="0.680845 0 0"/>
      <geometry>
        <box size="0.027547 0.018868 0.034717"/>
      </geometry>
    </visual>
    <collision>
      <origin xyz="0.001038 0.004299 0.006862" rpy="0.680845 0 0"/>
      <geometry>
        <box size="0.027547 0.018868 0.034717"/>
      </geometry>
    </collision>
    <visual>
      <origin xyz="0.001038 0.021259 0.019851" rpy="0.604465 0 0"/>
      <geometry>
        <box size="0.020377 0.026415 0.03434"/>
      </geometry>
    </visual>
    <collision>
      <origin xyz="0.001038 0.021259 0.019851" rpy="0.604465 0 0"/>
      <geometry>
        <box size="0.020377 0.026415 0.03434"/>
      </geometry>
    </collision>
    <visual>
      <origin xyz="0.001038 0.019179 -0.009531" rpy="0.494895 0 0"/>
      <geometry>
        <box size="0.010189 0.05283 0.00717"/>
      </geometry>
    </visual>
    <collision>
      <origin xyz="0.001038 0.019179 -0.009531" rpy="0.494895 0 0"/>
      <geometry>
        <box size="0.010189 0.05283 0.00717"/>
      </geometry>
    </collision>
    <visual>
      <origin xyz="0.001038 0.037459 0.024742" rpy="-1.5708 0 1.5708"/>
      <geometry>
        <cylinder radius="0.021887" length="0.019736"/>
      </geometry>
    </visual>
    <collision>
      <origin xyz="0.001038 0.037459 0.024742" rpy="-1.5708 0 1.5708"/>
      <geometry>
        <cylinder radius="0.021887" length="0.019736"/>
      </geometry>
    </collision>
  </link>
  <link name="rear right touch sensor">
  </link>
  <joint name="rear right forearm_rear right touch sensor_joint" type="fixed">
    <parent link="rear right forearm"/>
    <child link="rear right touch sensor"/>
    <origin xyz="0.001038 -0.271321 -0.225038" rpy="-1.5708 0 1.570801"/>
  </joint>
  <joint name="rear right piston motor" type="continuous">
    <parent link="rear right upperarm"/>
    <child link="solid_0"/>
    <axis xyz="1 0 0"/>
    <limit effort="10" velocity="10"/>
    <origin xyz="0.1172 -0.29077 0.2083" rpy="-0.5236 0 0"/>
  </joint>
  <link name="solid_0">
  </link>
  <joint name="rear left shoulder abduction motor" type="revolute">
    <parent link="base_link"/>
    <child link="rear left shoulder"/>
    <axis xyz="0 0 1"/>
    <limit effort="50" lower="-0.6" upper="0.5" velocity="10"/>
    <origin xyz="-0.3084 0.0528 0.012299" rpy="1.5708 -0.00001 -1.570793"/>
  </joint>
  <link name="rear left shoulder">
    <visual>
      <origin xyz="0.004874 0.000873 -0.000643" rpy="0 0 0"/>
      <geometry>
        <box size="0.086792 0.124528 0.120755"/>
      </geometry>
    </visual>
    <collision>
      <origin xyz="0.004874 0.000873 -0.000643" rpy="0 0 0"/>
      <geometry>
        <box size="0.086792 0.124528 0.120755"/>
      </geometry>
    </collision>
    <visual>
      <origin xyz="-0.006447 0.000873 -0.000643" rpy="0 0 0"/>
      <geometry>
        <box size="0.098113 0.098113 0.098113"/>
      </geometry>
    </visual>
    <collision>
      <origin xyz="-0.006447 0.000873 -0.000643" rpy="0 0 0"/>
      <geometry>
        <box size="0.098113 0.098113 0.098113"/>
      </geometry>
    </collision>
    <visual>
      <origin xyz="-0.058145 0.000873 -0.000643" rpy="-1.5708 0 1.5708"/>
      <geometry>
        <cylinder radius="0.047925" length="0.006038"/>
      </geometry>
    </visual>
    <collision>
      <origin xyz="-0.058145 0.000873 -0.000643" rpy="-1.5708 0 1.5708"/>
      <geometry>
        <cylinder radius="0.047925" length="0.006038"/>
      </geometry>
    </collision>
  </link>
  <joint name="rear left shoulder rotation motor" type="revolute">
    <parent link="rear left shoulder"/>
    <child link="rear left upperarm"/>
    <axis xyz="1 0 0"/>
    <limit effort="50" lower="-1.7" upper="1.7" velocity="10"/>
    <origin xyz="0 -0.00053 0" rpy="0 0 0"/>
  </joint>
  <link name="rear left upperarm">
    <visual>
      <origin xyz="-0.117011 -0.32073 0.1829" rpy="-1.5708 0 1.5708"/>
      <geometry>
        <cylinder radius="0.02717" length="0.060377"/>
      </geometry>
    </visual>
    <collision>
      <origin xyz="-0.117011 -0.32073 0.1829" rpy="-1.5708 0 1.5708"/>
      <geometry>
        <cylinder radius="0.02717" length="0.060377"/>
      </geometry>
    </collision>
    <visual>
      <origin xyz="-0.117011 -0.25867 0.180358" rpy="0 0.05 1.570795"/>
      <geometry>
        <box size="0.09434 0.060377 0.053208"/>
      </geometry>
    </visual>
    <collision>
      <origin xyz="-0.117011 -0.25867 0.180358" rpy="0 0.05 1.570795"/>
      <geometry>
        <box size="0.09434 0.060377 0.053208"/>
      </geometry>
    </collision>
    <visual>
      <origin xyz="-0.149087 -0.023654 0.007772" rpy="-0.656375 0 0"/>
      <geometry>
        <box size="0.016226 0.177358 0.071698"/>
      </geometry>
    </visual>
    <collision>
      <origin xyz="-0.149087 -0.023654 0.007772" rpy="-0.656375 0 0"/>
      <geometry>
        <box size="0.016226 0.177358 0.071698"/>
      </geometry>
    </collision>
    <visual>
      <origin xyz="-0.14944 -0.001095 0.048195" rpy="-0.688653 0.282831 -0.225783"/>
      <geometry>
        <box size="0.004528 0.173585 0.015094"/>
      </geometry>
    </visual>
    <collision>
      <origin xyz="-0.14944 -0.001095 0.048195" rpy="-0.688653 0.282831 -0.225783"/>
      <geometry>
        <box size="0.004528 0.173585 0.015094"/>
      </geometry>
    </collision>
    <visual>
      <origin xyz="-0.143963 -0.142325 0.149419" rpy="-0.689784 0.390399 -0.237371"/>
      <geometry>
        <box size="0.004528 0.173585 0.015094"/>
      </geometry>
    </visual>
    <collision>
      <origin xyz="-0.143963 -0.142325 0.149419" rpy="-0.689784 0.390399 -0.237371"/>
      <geometry>
        <box size="0.004528 0.173585 0.015094"/>
      </geometry>
    </collision>
    <visual>
      <origin xyz="-0.143376 -0.16295 0.113632" rpy="-0.64577 0.030504 0.039623"/>
      <geometry>
        <box size="0.016226 0.173585 0.071698"/>
      </geometry>
    </visual>
    <collision>
      <origin xyz="-0.143376 -0.16295 0.113632" rpy="-0.64577 0.030504 0.039623"/>
      <geometry>
        <box size="0.016226 0.173585 0.071698"/>
      </geometry>
    </collision>
    <visual>
      <origin xyz="-0.113992 -0.21476 0.154045" rpy="-0.656375 0 0"/>
      <geometry>
        <box size="0.054717 0.098113 0.064151"/>
      </geometry>
    </visual>
    <collision>
      <origin xyz="-0.113992 -0.21476 0.154045" rpy="-0.656375 0 0"/>
      <geometry>
        <box size="0.054717 0.098113 0.064151"/>
      </geometry>
    </collision>
    <visual>
      <origin xyz="-0.113238 -0.119427 0.086296" rpy="-2.227175 0 0"/>
      <geometry>
        <cylinder radius="0.028679" length="0.150943"/>
      </geometry>
    </visual>
    <collision>
      <origin xyz="-0.113238 -0.119427 0.086296" rpy="-2.227175 0 0"/>
      <geometry>
        <cylinder radius="0.028679" length="0.150943"/>
      </geometry>
    </collision>
    <visual>
      <origin xyz="-0.113238 -0.04459 0.028636" rpy="-2.227175 0 0"/>
      <geometry>
        <cylinder radius="0.037736" length="0.041509"/>
      </geometry>
    </visual>
    <collision>
      <origin xyz="-0.113238 -0.04459 0.028636" rpy="-2.227175 0 0"/>
      <geometry>
        <cylinder radius="0.037736" length="0.041509"/>
      </geometry>
    </collision>
    <visual>
      <origin xyz="-0.113738 -0.02284 -0.046726" rpy="-0.656375 0 0"/>
      <geometry>
        <box size="0.061509 0.069811 0.011321"/>
      </geometry>
    </visual>
    <collision>
      <origin xyz="-0.113738 -0.02284 -0.046726" rpy="-0.656375 0 0"/>
      <geometry>
        <box size="0.061509 0.069811 0.011321"/>
      </geometry>
    </collision>
    <visual>
      <origin xyz="-0.073615 -0.00019 -0.000689" rpy="-1.5708 0 1.5708"/>
      <geometry>
        <cylinder radius="0.04" length="0.037736"/>
      </geometry>
    </visual>
    <collision>
      <origin xyz="-0.073615 -0.00019 -0.000689" rpy="-1.5708 0 1.5708"/>
      <geometry>
        <cylinder radius="0.04" length="0.037736"/>
      </geometry>
    </collision>
    <visual>
      <origin xyz="-0.115879 0.008331 -0.011344" rpy="-2.227175 0 0"/>
      <geometry>
        <cylinder radius="0.033962" length="0.086792"/>
      </geometry>
    </visual>
    <collision>
      <origin xyz="-0.115879 0.008331 -0.011344" rpy="-2.227175 0 0"/>
      <geometry>
        <cylinder radius="0.033962" length="0.086792"/>
      </geometry>
    </collision>
    <visual>
      <origin xyz="-0.12154 0.053961 -0.047932" rpy="-0.656375 0 0"/>
      <geometry>
        <box size="0.064151 0.003774 0.071698"/>
      </geometry>
    </visual>
    <collision>
      <origin xyz="-0.12154 0.053961 -0.047932" rpy="-0.656375 0 0"/>
      <geometry>
        <box size="0.064151 0.003774 0.071698"/>
      </geometry>
    </collision>
    <visual>
      <origin xyz="-0.12003 0.073308 -0.006499" rpy="0.013625 0 0"/>
      <geometry>
        <box size="0.060377 0.007547 0.022642"/>
      </geometry>
    </visual>
    <collision>
      <origin xyz="-0.12003 0.073308 -0.006499" rpy="0.013625 0 0"/>
      <geometry>
        <box size="0.060377 0.007547 0.022642"/>
      </geometry>
    </collision>
    <visual>
      <origin xyz="-0.117011 -0.13635 0.154336" rpy="0.99 0 0"/>
      <geometry>
        <box size="0.049057 0.005283 0.169811"/>
      </geometry>
    </visual>
    <collision>
      <origin xyz="-0.117011 -0.13635 0.154336" rpy="0.99 0 0"/>
      <geometry>
        <box size="0.049057 0.005283 0.169811"/>
      </geometry>
    </collision>
    <visual>
      <origin xyz="-0.083111 -0.31378 0.182934" rpy="0 -0.076371 1.570798"/>
      <geometry>
        <box size="0.044 0.008 0.0387"/>
      </geometry>
    </visual>
    <collision>
      <origin xyz="-0.083111 -0.31378 0.182934" rpy="0 -0.076371 1.570798"/>
      <geometry>
        <box size="0.044 0.008 0.0387"/>
      </geometry>
    </collision>
  </link>
  <joint name="rear left elbow motor" type="revolute">
    <parent link="rear left upperarm"/>
    <child link="rear left forearm"/>
    <axis xyz="1 0 0"/>
    <limit effort="50" lower="-0.45" upper="1.6" velocity="10"/>
    <origin xyz="-0.1122 -0.319729 0.182338" rpy="0 0 0"/>
  </joint>
  <link name="rear left forearm">
    <visual>
      <origin xyz="-0.001038 -0.271321 -0.225038" rpy="-1.5708 0 1.570801"/>
      <geometry>
        <cylinder radius="0.035094" length="0.039623"/>
      </geometry>
    </visual>
    <collision>
      <origin xyz="-0.001038 -0.271321 -0.225038" rpy="-1.5708 0 1.570801"/>
      <geometry>
        <cylinder radius="0.035094" length="0.039623"/>
      </geometry>
    </collision>
    <visual>
      <origin xyz="-0.001038 -0.227421 -0.230239" rpy="-0.947675 0 0"/>
      <geometry>
        <box size="0.037736 0.006038 0.041509"/>
      </geometry>
    </visual>
    <collision>
      <origin xyz="-0.001038 -0.227421 -0.230239" rpy="-0.947675 0 0"/>
      <geometry>
        <box size="0.037736 0.006038 0.041509"/>
      </geometry>
    </collision>
    <visual>
      <origin xyz="-0.001038 -0.232272 -0.198255" rpy="-0.093185 0 0"/>
      <geometry>
        <box size="0.037736 0.045283 0.006792"/>
      </geometry>
    </visual>
    <collision>
      <origin xyz="-0.001038 -0.232272 -0.198255" rpy="-0.093185 0 0"/>
      <geometry>
        <box size="0.037736 0.045283 0.006792"/>
      </geometry>
    </collision>
    <visual>
      <origin xyz="-0.001038 -0.205751 -0.206348" rpy="0.616815 0 0"/>
      <geometry>
        <box size="0.025283 0.022642 0.020755"/>
      </geometry>
    </visual>
    <collision>
      <origin xyz="-0.001038 -0.205751 -0.206348" rpy="0.616815 0 0"/>
      <geometry>
        <box size="0.025283 0.022642 0.020755"/>
      </geometry>
    </collision>
    <visual>
      <origin xyz="-0.001038 -0.168611 -0.18111" rpy="-2.513185 0 0"/>
      <geometry>
        <box size="0.019245 0.071698 0.017358"/>
      </geometry>
    </visual>
    <collision>
      <origin xyz="-0.001038 -0.168611 -0.18111" rpy="-2.513185 0 0"/>
      <geometry>
        <box size="0.019245 0.071698 0.017358"/>
      </geometry>
    </collision>
    <visual>
      <origin xyz="-0.001038 -0.125111 -0.148236" rpy="0.663625 0 0"/>
      <geometry>
        <box size="0.021887 0.037736 0.018491"/>
      </geometry>
    </visual>
    <collision>
      <origin xyz="-0.001038 -0.125111 -0.148236" rpy="0.663625 0 0"/>
      <geometry>
        <box size="0.021887 0.037736 0.018491"/>
      </geometry>
    </collision>
    <visual>
      <origin xyz="-0.001038 -0.100861 -0.126163" rpy="0.760415 0 0"/>
      <geometry>
        <box size="0.026415 0.030189 0.021132"/>
      </geometry>
    </visual>
    <collision>
      <origin xyz="-0.001038 -0.100861 -0.126163" rpy="0.760415 0 0"/>
      <geometry>
        <box size="0.026415 0.030189 0.021132"/>
      </geometry>
    </collision>
    <visual>
      <origin xyz="-0.001038 -0.084241 -0.106843" rpy="0.867225 0 0"/>
      <geometry>
        <box size="0.032453 0.022642 0.024528"/>
      </geometry>
    </visual>
    <collision>
      <origin xyz="-0.001038 -0.084241 -0.106843" rpy="0.867225 0 0"/>
      <geometry>
        <box size="0.032453 0.022642 0.024528"/>
      </geometry>
    </collision>
    <visual>
      <origin xyz="-0.001038 -0.068551 -0.08661" rpy="0.907225 0 0"/>
      <geometry>
        <box size="0.037736 0.033962 0.026415"/>
      </geometry>
    </visual>
    <collision>
      <origin xyz="-0.001038 -0.068551 -0.08661" rpy="0.907225 0 0"/>
      <geometry>
        <box size="0.037736 0.033962 0.026415"/>
      </geometry>
    </collision>
    <visual>
      <origin xyz="-0.001038 -0.049721 -0.059227" rpy="0.933245 0 0"/>
      <geometry>
        <cylinder radius="0.024528" length="0.030566"/>
      </geometry>
    </visual>
    <collision>
      <origin xyz="-0.001038 -0.049721 -0.059227" rpy="0.933245 0 0"/>
      <geometry>
        <cylinder radius="0.024528" length="0.030566"/>
      </geometry>
    </collision>
    <visual>
      <origin xyz="-0.001038 -0.034991 -0.038166" rpy="0.937225 0 0"/>
      <geometry>
        <box size="0.038113 0.022642 0.032075"/>
      </geometry>
    </visual>
    <collision>
      <origin xyz="-0.001038 -0.034991 -0.038166" rpy="0.937225 0 0"/>
      <geometry>
        <box size="0.038113 0.022642 0.032075"/>
      </geometry>
    </collision>
    <visual>
      <origin xyz="-0.001038 -0.022931 -0.021744" rpy="0.937225 0 0"/>
      <geometry>
        <box size="0.031321 0.018868 0.03283"/>
      </geometry>
    </visual>
    <collision>
      <origin xyz="-0.001038 -0.022931 -0.021744" rpy="0.937225 0 0"/>
      <geometry>
        <box size="0.031321 0.018868 0.03283"/>
      </geometry>
    </collision>
    <visual>
      <origin xyz="-0.001038 -0.010711 -0.006332" rpy="0.834035 0 0"/>
      <geometry>
        <box size="0.027925 0.018868 0.03283"/>
      </geometry>
    </visual>
    <collision>
      <origin xyz="-0.001038 -0.010711 -0.006332" rpy="0.834035 0 0"/>
      <geometry>
        <box size="0.027925 0.018868 0.03283"/>
      </geometry>
    </collision>
    <visual>
      <origin xyz="-0.001038 0.004299 0.006862" rpy="0.680845 0 0"/>
      <geometry>
        <box size="0.027547 0.018868 0.034717"/>
      </geometry>
    </visual>
    <collision>
      <origin xyz="-0.001038 0.004299 0.006862" rpy="0.680845 0 0"/>
      <geometry>
        <box size="0.027547 0.018868 0.034717"/>
      </geometry>
    </collision>
    <visual>
      <origin xyz="-0.001038 0.021259 0.019851" rpy="0.604465 0 0"/>
      <geometry>
        <box size="0.020377 0.026415 0.03434"/>
      </geometry>
    </visual>
    <collision>
      <origin xyz="-0.001038 0.021259 0.019851" rpy="0.604465 0 0"/>
      <geometry>
        <box size="0.020377 0.026415 0.03434"/>
      </geometry>
    </collision>
    <visual>
      <origin xyz="-0.001038 0.019179 -0.009531" rpy="0.494895 0 0"/>
      <geometry>
        <box size="0.010189 0.05283 0.00717"/>
      </geometry>
    </visual>
    <collision>
      <origin xyz="-0.001038 0.019179 -0.009531" rpy="0.494895 0 0"/>
      <geometry>
        <box size="0.010189 0.05283 0.00717"/>
      </geometry>
    </collision>
    <visual>
      <origin xyz="-0.001038 0.037459 0.024742" rpy="-1.5708 0 1.5708"/>
      <geometry>
        <cylinder radius="0.021887" length="0.019736"/>
      </geometry>
    </visual>
    <collision>
      <origin xyz="-0.001038 0.037459 0.024742" rpy="-1.5708 0 1.5708"/>
      <geometry>
        <cylinder radius="0.021887" length="0.019736"/>
      </geometry>
    </collision>
  </link>
  <link name="rear left touch sensor">
  </link>
  <joint name="rear left forearm_rear left touch sensor_joint" type="fixed">
    <parent link="rear left forearm"/>
    <child link="rear left touch sensor"/>
    <origin xyz="0.001038 -0.271321 -0.225038" rpy="-1.5708 0 1.570801"/>
  </joint>
  <joint name="rear left piston motor" type="continuous">
    <parent link="rear left upperarm"/>
    <child link="solid_1"/>
    <axis xyz="1 0 0"/>
    <limit effort="10" velocity="10"/>
    <origin xyz="-0.1172 -0.29077 0.2083" rpy="-0.5236 0 0"/>
  </joint>
  <link name="solid_1">
  </link>
  <joint name="front right shoulder abduction motor" type="revolute">
    <parent link="base_link"/>
    <child link="front right shoulder"/>
    <axis xyz="0 0 1"/>
    <limit effort="50" lower="-0.6" upper="0.5" velocity="10"/>
    <origin xyz="0.3635 -0.0528 0.012401" rpy="1.5708 -0.00001 -1.570793"/>
  </joint>
  <link name="front right shoulder">
    <visual>
      <origin xyz="-0.004874 0.000873 -0.000643" rpy="0 0 0"/>
      <geometry>
        <box size="0.086792 0.124528 0.120755"/>
      </geometry>
    </visual>
    <collision>
      <origin xyz="-0.004874 0.000873 -0.000643" rpy="0 0 0"/>
      <geometry>
        <box size="0.086792 0.124528 0.120755"/>
      </geometry>
    </collision>
    <visual>
      <origin xyz="0.006447 0.000873 -0.000643" rpy="0 0 0"/>
      <geometry>
        <box size="0.098113 0.098113 0.098113"/>
      </geometry>
    </visual>
    <collision>
      <origin xyz="0.006447 0.000873 -0.000643" rpy="0 0 0"/>
      <geometry>
        <box size="0.098113 0.098113 0.098113"/>
      </geometry>
    </collision>
    <visual>
      <origin xyz="0.058145 0.000873 -0.000643" rpy="-1.5708 0 1.5708"/>
      <geometry>
        <cylinder radius="0.047925" length="0.006038"/>
      </geometry>
    </visual>
    <collision>
      <origin xyz="0.058145 0.000873 -0.000643" rpy="-1.5708 0 1.5708"/>
      <geometry>
        <cylinder radius="0.047925" length="0.006038"/>
      </geometry>
    </collision>
  </link>
  <joint name="front right shoulder rotation motor" type="revolute">
    <parent link="front right shoulder"/>
    <child link="front right upperarm"/>
    <axis xyz="1 0 0"/>
    <limit effort="50" lower="-1.7" upper="1.7" velocity="10"/>
    <origin xyz="0 -0.00053 0" rpy="0 0 0"/>
  </joint>
  <link name="front right upperarm">
    <visual>
      <origin xyz="0.117011 -0.32073 0.1829" rpy="-1.5708 0 1.5708"/>
      <geometry>
        <cylinder radius="0.02717" length="0.060377"/>
      </geometry>
    </visual>
    <collision>
      <origin xyz="0.117011 -0.32073 0.1829" rpy="-1.5708 0 1.5708"/>
      <geometry>
        <cylinder radius="0.02717" length="0.060377"/>
      </geometry>
    </collision>
    <visual>
      <origin xyz="0.117011 -0.25867 0.180358" rpy="0 0.05 1.570795"/>
      <geometry>
        <box size="0.09434 0.060377 0.053208"/>
      </geometry>
    </visual>
    <collision>
      <origin xyz="0.117011 -0.25867 0.180358" rpy="0 0.05 1.570795"/>
      <geometry>
        <box size="0.09434 0.060377 0.053208"/>
      </geometry>
    </collision>
    <visual>
      <origin xyz="0.149087 -0.023654 0.007772" rpy="-0.656375 0 0"/>
      <geometry>
        <box size="0.016226 0.177358 0.071698"/>
      </geometry>
    </visual>
    <collision>
      <origin xyz="0.149087 -0.023654 0.007772" rpy="-0.656375 0 0"/>
      <geometry>
        <box size="0.016226 0.177358 0.071698"/>
      </geometry>
    </collision>
    <visual>
      <origin xyz="0.14944 -0.001095 0.048195" rpy="-0.688653 0.282831 -0.225783"/>
      <geometry>
        <box size="0.004528 0.173585 0.015094"/>
      </geometry>
    </visual>
    <collision>
      <origin xyz="0.14944 -0.001095 0.048195" rpy="-0.688653 0.282831 -0.225783"/>
      <geometry>
        <box size="0.004528 0.173585 0.015094"/>
      </geometry>
    </collision>
    <visual>
      <origin xyz="0.143963 -0.142325 0.149419" rpy="-0.689784 0.390399 -0.237371"/>
      <geometry>
        <box size="0.004528 0.173585 0.015094"/>
      </geometry>
    </visual>
    <collision>
      <origin xyz="0.143963 -0.142325 0.149419" rpy="-0.689784 0.390399 -0.237371"/>
      <geometry>
        <box size="0.004528 0.173585 0.015094"/>
      </geometry>
    </collision>
    <visual>
      <origin xyz="0.143376 -0.16295 0.113632" rpy="-0.64577 0.030504 0.039623"/>
      <geometry>
        <box size="0.016226 0.173585 0.071698"/>
      </geometry>
    </visual>
    <collision>
      <origin xyz="0.143376 -0.16295 0.113632" rpy="-0.64577 0.030504 0.039623"/>
      <geometry>
        <box size="0.016226 0.173585 0.071698"/>
      </geometry>
    </collision>
    <visual>
      <origin xyz="0.113992 -0.21476 0.154045" rpy="-0.656375 0 0"/>
      <geometry>
        <box size="0.054717 0.098113 0.064151"/>
      </geometry>
    </visual>
    <collision>
      <origin xyz="0.113992 -0.21476 0.154045" rpy="-0.656375 0 0"/>
      <geometry>
        <box size="0.054717 0.098113 0.064151"/>
      </geometry>
    </collision>
    <visual>
      <origin xyz="0.113238 -0.119427 0.086296" rpy="-2.227175 0 0"/>
      <geometry>
        <cylinder radius="0.028679" length="0.150943"/>
      </geometry>
    </visual>
    <collision>
      <origin xyz="0.113238 -0.119427 0.086296" rpy="-2.227175 0 0"/>
      <geometry>
        <cylinder radius="0.028679" length="0.150943"/>
      </geometry>
    </collision>
    <visual>
      <origin xyz="0.113238 -0.04459 0.028636" rpy="-2.227175 0 0"/>
      <geometry>
        <cylinder radius="0.037736" length="0.041509"/>
      </geometry>
    </visual>
    <collision>
      <origin xyz="0.113238 -0.04459 0.028636" rpy="-2.227175 0 0"/>
      <geometry>
        <cylinder radius="0.037736" length="0.041509"/>
      </geometry>
    </collision>
    <visual>
      <origin xyz="0.113738 -0.02284 -0.046726" rpy="-0.656375 0 0"/>
      <geometry>
        <box size="0.061509 0.069811 0.011321"/>
      </geometry>
    </visual>
    <collision>
      <origin xyz="0.113738 -0.02284 -0.046726" rpy="-0.656375 0 0"/>
      <geometry>
        <box size="0.061509 0.069811 0.011321"/>
      </geometry>
    </collision>
    <visual>
      <origin xyz="0.073615 -0.00019 -0.000689" rpy="-1.5708 0 1.5708"/>
      <geometry>
        <cylinder radius="0.04" length="0.037736"/>
      </geometry>
    </visual>
    <collision>
      <origin xyz="0.073615 -0.00019 -0.000689" rpy="-1.5708 0 1.5708"/>
      <geometry>
        <cylinder radius="0.04" length="0.037736"/>
      </geometry>
    </collision>
    <visual>
      <origin xyz="0.115879 0.008331 -0.011344" rpy="-2.227175 0 0"/>
      <geometry>
        <cylinder radius="0.033962" length="0.086792"/>
      </geometry>
    </visual>
    <collision>
      <origin xyz="0.115879 0.008331 -0.011344" rpy="-2.227175 0 0"/>
      <geometry>
        <cylinder radius="0.033962" length="0.086792"/>
      </geometry>
    </collision>
    <visual>
      <origin xyz="0.12154 0.053961 -0.047932" rpy="-0.656375 0 0"/>
      <geometry>
        <box size="0.064151 0.003774 0.071698"/>
      </geometry>
    </visual>
    <collision>
      <origin xyz="0.12154 0.053961 -0.047932" rpy="-0.656375 0 0"/>
      <geometry>
        <box size="0.064151 0.003774 0.071698"/>
      </geometry>
    </collision>
    <visual>
      <origin xyz="0.12003 0.073308 -0.006499" rpy="0.013625 0 0"/>
      <geometry>
        <box size="0.060377 0.007547 0.022642"/>
      </geometry>
    </visual>
    <collision>
      <origin xyz="0.12003 0.073308 -0.006499" rpy="0.013625 0 0"/>
      <geometry>
        <box size="0.060377 0.007547 0.022642"/>
      </geometry>
    </collision>
    <visual>
      <origin xyz="0.117011 -0.13635 0.154336" rpy="0.99 0 0"/>
      <geometry>
        <box size="0.049057 0.005283 0.169811"/>
      </geometry>
    </visual>
    <collision>
      <origin xyz="0.117011 -0.13635 0.154336" rpy="0.99 0 0"/>
      <geometry>
        <box size="0.049057 0.005283 0.169811"/>
      </geometry>
    </collision>
    <visual>
      <origin xyz="0.083111 -0.31378 0.182934" rpy="0 -0.076371 1.570798"/>
      <geometry>
        <box size="0.044 0.008 0.0387"/>
      </geometry>
    </visual>
    <collision>
      <origin xyz="0.083111 -0.31378 0.182934" rpy="0 -0.076371 1.570798"/>
      <geometry>
        <box size="0.044 0.008 0.0387"/>
      </geometry>
    </collision>
  </link>
  <joint name="front right elbow motor" type="revolute">
    <parent link="front right upperarm"/>
    <child link="front right forearm"/>
    <axis xyz="1 0 0"/>
    <limit effort="50" lower="-0.45" upper="1.6" velocity="10"/>
    <origin xyz="0.1122 -0.319729 0.182338" rpy="0 0 0"/>
  </joint>
  <link name="front right forearm">
    <visual>
      <origin xyz="0.001038 -0.271321 -0.225038" rpy="-1.5708 0 1.570801"/>
      <geometry>
        <cylinder radius="0.035094" length="0.039623"/>
      </geometry>
    </visual>
    <collision>
      <origin xyz="0.001038 -0.271321 -0.225038" rpy="-1.5708 0 1.570801"/>
      <geometry>
        <cylinder radius="0.035094" length="0.039623"/>
      </geometry>
    </collision>
    <visual>
      <origin xyz="0.001038 -0.227421 -0.230239" rpy="-0.947675 0 0"/>
      <geometry>
        <box size="0.037736 0.006038 0.041509"/>
      </geometry>
    </visual>
    <collision>
      <origin xyz="0.001038 -0.227421 -0.230239" rpy="-0.947675 0 0"/>
      <geometry>
        <box size="0.037736 0.006038 0.041509"/>
      </geometry>
    </collision>
    <visual>
      <origin xyz="0.001038 -0.232272 -0.198255" rpy="-0.093185 0 0"/>
      <geometry>
        <box size="0.037736 0.045283 0.006792"/>
      </geometry>
    </visual>
    <collision>
      <origin xyz="0.001038 -0.232272 -0.198255" rpy="-0.093185 0 0"/>
      <geometry>
        <box size="0.037736 0.045283 0.006792"/>
      </geometry>
    </collision>
    <visual>
      <origin xyz="0.001038 -0.205751 -0.206348" rpy="0.616815 0 0"/>
      <geometry>
        <box size="0.025283 0.022642 0.020755"/>
      </geometry>
    </visual>
    <collision>
      <origin xyz="0.001038 -0.205751 -0.206348" rpy="0.616815 0 0"/>
      <geometry>
        <box size="0.025283 0.022642 0.020755"/>
      </geometry>
    </collision>
    <visual>
      <origin xyz="0.001038 -0.168611 -0.18111" rpy="-2.513185 0 0"/>
      <geometry>
        <box size="0.019245 0.071698 0.017358"/>
      </geometry>
    </visual>
    <collision>
      <origin xyz="0.001038 -0.168611 -0.18111" rpy="-2.513185 0 0"/>
      <geometry>
        <box size="0.019245 0.071698 0.017358"/>
      </geometry>
    </collision>
    <visual>
      <origin xyz="0.001038 -0.125111 -0.148236" rpy="0.663625 0 0"/>
      <geometry>
        <box size="0.021887 0.037736 0.018491"/>
      </geometry>
    </visual>
    <collision>
      <origin xyz="0.001038 -0.125111 -0.148236" rpy="0.663625 0 0"/>
      <geometry>
        <box size="0.021887 0.037736 0.018491"/>
      </geometry>
    </collision>
    <visual>
      <origin xyz="0.001038 -0.100861 -0.126163" rpy="0.760415 0 0"/>
      <geometry>
        <box size="0.026415 0.030189 0.021132"/>
      </geometry>
    </visual>
    <collision>
      <origin xyz="0.001038 -0.100861 -0.126163" rpy="0.760415 0 0"/>
      <geometry>
        <box size="0.026415 0.030189 0.021132"/>
      </geometry>
    </collision>
    <visual>
      <origin xyz="0.001038 -0.084241 -0.106843" rpy="0.867225 0 0"/>
      <geometry>
        <box size="0.032453 0.022642 0.024528"/>
      </geometry>
    </visual>
    <collision>
      <origin xyz="0.001038 -0.084241 -0.106843" rpy="0.867225 0 0"/>
      <geometry>
        <box size="0.032453 0.022642 0.024528"/>
      </geometry>
    </collision>
    <visual>
      <origin xyz="0.001038 -0.068551 -0.08661" rpy="0.907225 0 0"/>
      <geometry>
        <box size="0.037736 0.033962 0.026415"/>
      </geometry>
    </visual>
    <collision>
      <origin xyz="0.001038 -0.068551 -0.08661" rpy="0.907225 0 0"/>
      <geometry>
        <box size="0.037736 0.033962 0.026415"/>
      </geometry>
    </collision>
    <visual>
      <origin xyz="0.001038 -0.049721 -0.059227" rpy="0.933245 0 0"/>
      <geometry>
        <cylinder radius="0.024528" length="0.030566"/>
      </geometry>
    </visual>
    <collision>
      <origin xyz="0.001038 -0.049721 -0.059227" rpy="0.933245 0 0"/>
      <geometry>
        <cylinder radius="0.024528" length="0.030566"/>
      </geometry>
    </collision>
    <visual>
      <origin xyz="0.001038 -0.034991 -0.038166" rpy="0.937225 0 0"/>
      <geometry>
        <box size="0.038113 0.022642 0.032075"/>
      </geometry>
    </visual>
    <collision>
      <origin xyz="0.001038 -0.034991 -0.038166" rpy="0.937225 0 0"/>
      <geometry>
        <box size="0.038113 0.022642 0.032075"/>
      </geometry>
    </collision>
    <visual>
      <origin xyz="0.001038 -0.022931 -0.021744" rpy="0.937225 0 0"/>
      <geometry>
        <box size="0.031321 0.018868 0.03283"/>
      </geometry>
    </visual>
    <collision>
      <origin xyz="0.001038 -0.022931 -0.021744" rpy="0.937225 0 0"/>
      <geometry>
        <box size="0.031321 0.018868 0.03283"/>
      </geometry>
    </collision>
    <visual>
      <origin xyz="0.001038 -0.010711 -0.006332" rpy="0.834035 0 0"/>
      <geometry>
        <box size="0.027925 0.018868 0.03283"/>
      </geometry>
    </visual>
    <collision>
      <origin xyz="0.001038 -0.010711 -0.006332" rpy="0.834035 0 0"/>
      <geometry>
        <box size="0.027925 0.018868 0.03283"/>
      </geometry>
    </collision>
    <visual>
      <origin xyz="0.001038 0.004299 0.006862" rpy="0.680845 0 0"/>
      <geometry>
        <box size="0.027547 0.018868 0.034717"/>
      </geometry>
    </visual>
    <collision>
      <origin xyz="0.001038 0.004299 0.006862" rpy="0.680845 0 0"/>
      <geometry>
        <box size="0.027547 0.018868 0.034717"/>
      </geometry>
    </collision>
    <visual>
      <origin xyz="0.001038 0.021259 0.019851" rpy="0.604465 0 0"/>
      <geometry>
        <box size="0.020377 0.026415 0.03434"/>
      </geometry>
    </visual>
    <collision>
      <origin xyz="0.001038 0.021259 0.019851" rpy="0.604465 0 0"/>
      <geometry>
        <box size="0.020377 0.026415 0.03434"/>
      </geometry>
    </collision>
    <visual>
      <origin xyz="0.001038 0.019179 -0.009531" rpy="0.494895 0 0"/>
      <geometry>
        <box size="0.010189 0.05283 0.00717"/>
      </geometry>
    </visual>
    <collision>
      <origin xyz="0.001038 0.019179 -0.009531" rpy="0.494895 0 0"/>
      <geometry>
        <box size="0.010189 0.05283 0.00717"/>
      </geometry>
    </collision>
    <visual>
      <origin xyz="0.001038 0.037459 0.024742" rpy="-1.5708 0 1.5708"/>
      <geometry>
        <cylinder radius="0.021887" length="0.019736"/>
      </geometry>
    </visual>
    <collision>
      <origin xyz="0.001038 0.037459 0.024742" rpy="-1.5708 0 1.5708"/>
      <geometry>
        <cylinder radius="0.021887" length="0.019736"/>
      </geometry>
    </collision>
  </link>
  <link name="front right touch sensor">
  </link>
  <joint name="front right forearm_front right touch sensor_joint" type="fixed">
    <parent link="front right forearm"/>
    <child link="front right touch sensor"/>
    <origin xyz="0.001038 -0.271321 -0.225038" rpy="-1.5708 0 1.570801"/>
  </joint>
  <joint name="front right piston motor" type="continuous">
    <parent link="front right upperarm"/>
    <child link="solid_2"/>
    <axis xyz="1 0 0"/>
    <limit effort="10" velocity="10"/>
    <origin xyz="0.1172 -0.29077 0.2083" rpy="-0.5236 0 0"/>
  </joint>
  <link name="solid_2">
  </link>
  <joint name="front left shoulder abduction motor" type="revolute">
    <parent link="base_link"/>
    <child link="front left shoulder"/>
    <axis xyz="0 0 1"/>
    <limit effort="50" lower="-0.6" upper="0.5" velocity="10"/>
    <origin xyz="0.3635 0.0528 0.012399" rpy="1.5708 -0.00001 -1.570793"/>
  </joint>
  <link name="front left shoulder">
    <visual>
      <origin xyz="0.004874 0.000873 -0.000643" rpy="0 0 0"/>
      <geometry>
        <box size="0.086792 0.124528 0.120755"/>
      </geometry>
    </visual>
    <collision>
      <origin xyz="0.004874 0.000873 -0.000643" rpy="0 0 0"/>
      <geometry>
        <box size="0.086792 0.124528 0.120755"/>
      </geometry>
    </collision>
    <visual>
      <origin xyz="-0.006447 0.000873 -0.000643" rpy="0 0 0"/>
      <geometry>
        <box size="0.098113 0.098113 0.098113"/>
      </geometry>
    </visual>
    <collision>
      <origin xyz="-0.006447 0.000873 -0.000643" rpy="0 0 0"/>
      <geometry>
        <box size="0.098113 0.098113 0.098113"/>
      </geometry>
    </collision>
    <visual>
      <origin xyz="-0.058145 0.000873 -0.000643" rpy="-1.5708 0 1.5708"/>
      <geometry>
        <cylinder radius="0.047925" length="0.006038"/>
      </geometry>
    </visual>
    <collision>
      <origin xyz="-0.058145 0.000873 -0.000643" rpy="-1.5708 0 1.5708"/>
      <geometry>
        <cylinder radius="0.047925" length="0.006038"/>
      </geometry>
    </collision>
  </link>
  <joint name="front left shoulder rotation motor" type="revolute">
    <parent link="front left shoulder"/>
    <child link="front left upperarm"/>
    <axis xyz="1 0 0"/>
    <limit effort="50" lower="-1.7" upper="1.7" velocity="10"/>
    <origin xyz="0 -0.00053 0" rpy="0 0 0"/>
  </joint>
  <link name="front left upperarm">
    <visual>
      <origin xyz="-0.117011 -0.32073 0.1829" rpy="-1.5708 0 1.5708"/>
      <geometry>
        <cylinder radius="0.02717" length="0.060377"/>
      </geometry>
    </visual>
    <collision>
      <origin xyz="-0.117011 -0.32073 0.1829" rpy="-1.5708 0 1.5708"/>
      <geometry>
        <cylinder radius="0.02717" length="0.060377"/>
      </geometry>
    </collision>
    <visual>
      <origin xyz="-0.117011 -0.25867 0.180358" rpy="0 0.05 1.570795"/>
      <geometry>
        <box size="0.09434 0.060377 0.053208"/>
      </geometry>
    </visual>
    <collision>
      <origin xyz="-0.117011 -0.25867 0.180358" rpy="0 0.05 1.570795"/>
      <geometry>
        <box size="0.09434 0.060377 0.053208"/>
      </geometry>
    </collision>
    <visual>
      <origin xyz="-0.149087 -0.023654 0.007772" rpy="-0.656375 0 0"/>
      <geometry>
        <box size="0.016226 0.177358 0.071698"/>
      </geometry>
    </visual>
    <collision>
      <origin xyz="-0.149087 -0.023654 0.007772" rpy="-0.656375 0 0"/>
      <geometry>
        <box size="0.016226 0.177358 0.071698"/>
      </geometry>
    </collision>
    <visual>
      <origin xyz="-0.14944 -0.001095 0.048195" rpy="-0.688653 0.282831 -0.225783"/>
      <geometry>
        <box size="0.004528 0.173585 0.015094"/>
      </geometry>
    </visual>
    <collision>
      <origin xyz="-0.14944 -0.001095 0.048195" rpy="-0.688653 0.282831 -0.225783"/>
      <geometry>
        <box size="0.004528 0.173585 0.015094"/>
      </geometry>
    </collision>
    <visual>
      <origin xyz="-0.143963 -0.142325 0.149419" rpy="-0.689784 0.390399 -0.237371"/>
      <geometry>
        <box size="0.004528 0.173585 0.015094"/>
      </geometry>
    </visual>
    <collision>
      <origin xyz="-0.143963 -0.142325 0.149419" rpy="-0.689784 0.390399 -0.237371"/>
      <geometry>
        <box size="0.004528 0.173585 0.015094"/>
      </geometry>
    </collision>
    <visual>
      <origin xyz="-0.143376 -0.16295 0.113632" rpy="-0.64577 0.030504 0.039623"/>
      <geometry>
        <box size="0.016226 0.173585 0.071698"/>
      </geometry>
    </visual>
    <collision>
      <origin xyz="-0.143376 -0.16295 0.113632" rpy="-0.64577 0.030504 0.039623"/>
      <geometry>
        <box size="0.016226 0.173585 0.071698"/>
      </geometry>
    </collision>
    <visual>
      <origin xyz="-0.113992 -0.21476 0.154045" rpy="-0.656375 0 0"/>
      <geometry>
        <box size="0.054717 0.098113 0.064151"/>
      </geometry>
    </visual>
    <collision>
      <origin xyz="-0.113992 -0.21476 0.154045" rpy="-0.656375 0 0"/>
      <geometry>
        <box size="0.054717 0.098113 0.064151"/>
      </geometry>
    </collision>
    <visual>
      <origin xyz="-0.113238 -0.119427 0.086296" rpy="-2.227175 0 0"/>
      <geometry>
        <cylinder radius="0.028679" length="0.150943"/>
      </geometry>
    </visual>
    <collision>
      <origin xyz="-0.113238 -0.119427 0.086296" rpy="-2.227175 0 0"/>
      <geometry>
        <cylinder radius="0.028679" length="0.150943"/>
      </geometry>
    </collision>
    <visual>
      <origin xyz="-0.113238 -0.04459 0.028636" rpy="-2.227175 0 0"/>
      <geometry>
        <cylinder radius="0.037736" length="0.041509"/>
      </geometry>
    </visual>
    <collision>
      <origin xyz="-0.113238 -0.04459 0.028636" rpy="-2.227175 0 0"/>
      <geometry>
        <cylinder radius="0.037736" length="0.041509"/>
      </geometry>
    </collision>
    <visual>
      <origin xyz="-0.113738 -0.02284 -0.046726" rpy="-0.656375 0 0"/>
      <geometry>
        <box size="0.061509 0.069811 0.011321"/>
      </geometry>
    </visual>
    <collision>
      <origin xyz="-0.113738 -0.02284 -0.046726" rpy="-0.656375 0 0"/>
      <geometry>
        <box size="0.061509 0.069811 0.011321"/>
      </geometry>
    </collision>
    <visual>
      <origin xyz="-0.073615 -0.00019 -0.000689" rpy="-1.5708 0 1.5708"/>
      <geometry>
        <cylinder radius="0.04" length="0.037736"/>
      </geometry>
    </visual>
    <collision>
      <origin xyz="-0.073615 -0.00019 -0.000689" rpy="-1.5708 0 1.5708"/>
      <geometry>
        <cylinder radius="0.04" length="0.037736"/>
      </geometry>
    </collision>
    <visual>
      <origin xyz="-0.115879 0.008331 -0.011344" rpy="-2.227175 0 0"/>
      <geometry>
        <cylinder radius="0.033962" length="0.086792"/>
      </geometry>
    </visual>
    <collision>
      <origin xyz="-0.115879 0.008331 -0.011344" rpy="-2.227175 0 0"/>
      <geometry>
        <cylinder radius="0.033962" length="0.086792"/>
      </geometry>
    </collision>
    <visual>
      <origin xyz="-0.12154 0.053961 -0.047932" rpy="-0.656375 0 0"/>
      <geometry>
        <box size="0.064151 0.003774 0.071698"/>
      </geometry>
    </visual>
    <collision>
      <origin xyz="-0.12154 0.053961 -0.047932" rpy="-0.656375 0 0"/>
      <geometry>
        <box size="0.064151 0.003774 0.071698"/>
      </geometry>
    </collision>
    <visual>
      <origin xyz="-0.12003 0.073308 -0.006499" rpy="0.013625 0 0"/>
      <geometry>
        <box size="0.060377 0.007547 0.022642"/>
      </geometry>
    </visual>
    <collision>
      <origin xyz="-0.12003 0.073308 -0.006499" rpy="0.013625 0 0"/>
      <geometry>
        <box size="0.060377 0.007547 0.022642"/>
      </geometry>
    </collision>
    <visual>
      <origin xyz="-0.117011 -0.13635 0.154336" rpy="0.99 0 0"/>
      <geometry>
        <box size="0.049057 0.005283 0.169811"/>
      </geometry>
    </visual>
    <collision>
      <origin xyz="-0.117011 -0.13635 0.154336" rpy="0.99 0 0"/>
      <geometry>
        <box size="0.049057 0.005283 0.169811"/>
      </geometry>
    </collision>
    <visual>
      <origin xyz="-0.083111 -0.31378 0.182934" rpy="0 -0.076371 1.570798"/>
      <geometry>
        <box size="0.044 0.008 0.0387"/>
      </geometry>
    </visual>
    <collision>
      <origin xyz="-0.083111 -0.31378 0.182934" rpy="0 -0.076371 1.570798"/>
      <geometry>
        <box size="0.044 0.008 0.0387"/>
      </geometry>
    </collision>
  </link>
  <joint name="front left elbow motor" type="revolute">
    <parent link="front left upperarm"/>
    <child link="front left forearm"/>
    <axis xyz="1 0 0"/>
    <limit effort="50" lower="-0.45" upper="1.6" velocity="10"/>
    <origin xyz="-0.1122 -0.319729 0.182338" rpy="0 0 0"/>
  </joint>
  <link name="front left forearm">
    <visual>
      <origin xyz="-0.001038 -0.271321 -0.225038" rpy="-1.5708 0 1.570801"/>
      <geometry>
        <cylinder radius="0.035094" length="0.039623"/>
      </geometry>
    </visual>
    <collision>
      <origin xyz="-0.001038 -0.271321 -0.225038" rpy="-1.5708 0 1.570801"/>
      <geometry>
        <cylinder radius="0.035094" length="0.039623"/>
      </geometry>
    </collision>
    <visual>
      <origin xyz="-0.001038 -0.227421 -0.230239" rpy="-0.947675 0 0"/>
      <geometry>
        <box size="0.037736 0.006038 0.041509"/>
      </geometry>
    </visual>
    <collision>
      <origin xyz="-0.001038 -0.227421 -0.230239" rpy="-0.947675 0 0"/>
      <geometry>
        <box size="0.037736 0.006038 0.041509"/>
      </geometry>
    </collision>
    <visual>
      <origin xyz="-0.001038 -0.232272 -0.198255" rpy="-0.093185 0 0"/>
      <geometry>
        <box size="0.037736 0.045283 0.006792"/>
      </geometry>
    </visual>
    <collision>
      <origin xyz="-0.001038 -0.232272 -0.198255" rpy="-0.093185 0 0"/>
      <geometry>
        <box size="0.037736 0.045283 0.006792"/>
      </geometry>
    </collision>
    <visual>
      <origin xyz="-0.001038 -0.205751 -0.206348" rpy="0.616815 0 0"/>
      <geometry>
        <box size="0.025283 0.022642 0.020755"/>
      </geometry>
    </visual>
    <collision>
      <origin xyz="-0.001038 -0.205751 -0.206348" rpy="0.616815 0 0"/>
      <geometry>
        <box size="0.025283 0.022642 0.020755"/>
      </geometry>
    </collision>
    <visual>
      <origin xyz="-0.001038 -0.168611 -0.18111" rpy="-2.513185 0 0"/>
      <geometry>
        <box size="0.019245 0.071698 0.017358"/>
      </geometry>
    </visual>
    <collision>
      <origin xyz="-0.001038 -0.168611 -0.18111" rpy="-2.513185 0 0"/>
      <geometry>
        <box size="0.019245 0.071698 0.017358"/>
      </geometry>
    </collision>
    <visual>
      <origin xyz="-0.001038 -0.125111 -0.148236" rpy="0.663625 0 0"/>
      <geometry>
        <box size="0.021887 0.037736 0.018491"/>
      </geometry>
    </visual>
    <collision>
      <origin xyz="-0.001038 -0.125111 -0.148236" rpy="0.663625 0 0"/>
      <geometry>
        <box size="0.021887 0.037736 0.018491"/>
      </geometry>
    </collision>
    <visual>
      <origin xyz="-0.001038 -0.100861 -0.126163" rpy="0.760415 0 0"/>
      <geometry>
        <box size="0.026415 0.030189 0.021132"/>
      </geometry>
    </visual>
    <collision>
      <origin xyz="-0.001038 -0.100861 -0.126163" rpy="0.760415 0 0"/>
      <geometry>
        <box size="0.026415 0.030189 0.021132"/>
      </geometry>
    </collision>
    <visual>
      <origin xyz="-0.001038 -0.084241 -0.106843" rpy="0.867225 0 0"/>
      <geometry>
        <box size="0.032453 0.022642 0.024528"/>
      </geometry>
    </visual>
    <collision>
      <origin xyz="-0.001038 -0.084241 -0.106843" rpy="0.867225 0 0"/>
      <geometry>
        <box size="0.032453 0.022642 0.024528"/>
      </geometry>
    </collision>
    <visual>
      <origin xyz="-0.001038 -0.068551 -0.08661" rpy="0.907225 0 0"/>
      <geometry>
        <box size="0.037736 0.033962 0.026415"/>
      </geometry>
    </visual>
    <collision>
      <origin xyz="-0.001038 -0.068551 -0.08661" rpy="0.907225 0 0"/>
      <geometry>
        <box size="0.037736 0.033962 0.026415"/>
      </geometry>
    </collision>
    <visual>
      <origin xyz="-0.001038 -0.049721 -0.059227" rpy="0.933245 0 0"/>
      <geometry>
        <cylinder radius="0.024528" length="0.030566"/>
      </geometry>
    </visual>
    <collision>
      <origin xyz="-0.001038 -0.049721 -0.059227" rpy="0.933245 0 0"/>
      <geometry>
        <cylinder radius="0.024528" length="0.030566"/>
      </geometry>
    </collision>
    <visual>
      <origin xyz="-0.001038 -0.034991 -0.038166" rpy="0.937225 0 0"/>
      <geometry>
        <box size="0.038113 0.022642 0.032075"/>
      </geometry>
    </visual>
    <collision>
      <origin xyz="-0.001038 -0.034991 -0.038166" rpy="0.937225 0 0"/>
      <geometry>
        <box size="0.038113 0.022642 0.032075"/>
      </geometry>
    </collision>
    <visual>
      <origin xyz="-0.001038 -0.022931 -0.021744" rpy="0.937225 0 0"/>
      <geometry>
        <box size="0.031321 0.018868 0.03283"/>
      </geometry>
    </visual>
    <collision>
      <origin xyz="-0.001038 -0.022931 -0.021744" rpy="0.937225 0 0"/>
      <geometry>
        <box size="0.031321 0.018868 0.03283"/>
      </geometry>
    </collision>
    <visual>
      <origin xyz="-0.001038 -0.010711 -0.006332" rpy="0.834035 0 0"/>
      <geometry>
        <box size="0.027925 0.018868 0.03283"/>
      </geometry>
    </visual>
    <collision>
      <origin xyz="-0.001038 -0.010711 -0.006332" rpy="0.834035 0 0"/>
      <geometry>
        <box size="0.027925 0.018868 0.03283"/>
      </geometry>
    </collision>
    <visual>
      <origin xyz="-0.001038 0.004299 0.006862" rpy="0.680845 0 0"/>
      <geometry>
        <box size="0.027547 0.018868 0.034717"/>
      </geometry>
    </visual>
    <collision>
      <origin xyz="-0.001038 0.004299 0.006862" rpy="0.680845 0 0"/>
      <geometry>
        <box size="0.027547 0.018868 0.034717"/>
      </geometry>
    </collision>
    <visual>
      <origin xyz="-0.001038 0.021259 0.019851" rpy="0.604465 0 0"/>
      <geometry>
        <box size="0.020377 0.026415 0.03434"/>
      </geometry>
    </visual>
    <collision>
      <origin xyz="-0.001038 0.021259 0.019851" rpy="0.604465 0 0"/>
      <geometry>
        <box size="0.020377 0.026415 0.03434"/>
      </geometry>
    </collision>
    <visual>
      <origin xyz="-0.001038 0.019179 -0.009531" rpy="0.494895 0 0"/>
      <geometry>
        <box size="0.010189 0.05283 0.00717"/>
      </geometry>
    </visual>
    <collision>
      <origin xyz="-0.001038 0.019179 -0.009531" rpy="0.494895 0 0"/>
      <geometry>
        <box size="0.010189 0.05283 0.00717"/>
      </geometry>
    </collision>
    <visual>
      <origin xyz="-0.001038 0.037459 0.024742" rpy="-1.5708 0 1.5708"/>
      <geometry>
        <cylinder radius="0.021887" length="0.019736"/>
      </geometry>
    </visual>
    <collision>
      <origin xyz="-0.001038 0.037459 0.024742" rpy="-1.5708 0 1.5708"/>
      <geometry>
        <cylinder radius="0.021887" length="0.019736"/>
      </geometry>
    </collision>
  </link>
  <link name="front left touch sensor">
  </link>
  <joint name="front left forearm_front left touch sensor_joint" type="fixed">
    <parent link="front left forearm"/>
    <child link="front left touch sensor"/>
    <origin xyz="0.001038 -0.271321 -0.225038" rpy="-1.5708 0 1.570801"/>
  </joint>
  <joint name="front left piston motor" type="continuous">
    <parent link="front left upperarm"/>
    <child link="solid_3"/>
    <axis xyz="1 0 0"/>
    <limit effort="10" velocity="10"/>
    <origin xyz="-0.1172 -0.29077 0.2083" rpy="-0.5236 0 0"/>
  </joint>
  <link name="solid_3">
  </link>
  <link name="rear depth">
  </link>
  <joint name="base_link_rear depth_joint" type="fixed">
    <parent link="base_link"/>
    <child link="rear depth"/>
    <origin xyz="-0.448136 -0.018115 0.012558" rpy="0.000015 0.474984 -3.141579"/>
  </joint>
  <link name="rear camera">
  </link>
  <joint name="base_link_rear camera_joint" type="fixed">
    <parent link="base_link"/>
    <child link="rear camera"/>
    <origin xyz="-0.448136 -0.018115 0.012558" rpy="-1.570781 0.474984 -4.712375"/>
  </joint>
  <link name="left flank depth">
  </link>
  <joint name="base_link_left flank depth_joint" type="fixed">
    <parent link="base_link"/>
    <child link="left flank depth"/>
    <origin xyz="-0.13568 0.110127 0.065528" rpy="-0.000003 0.403191 1.570802"/>
  </joint>
  <link name="left flank camera">
  </link>
  <joint name="base_link_left flank camera_joint" type="fixed">
    <parent link="base_link"/>
    <child link="left flank camera"/>
    <origin xyz="-0.13568 0.110127 0.065528" rpy="-1.570799 0.403191 0.000005"/>
  </joint>
  <link name="right flank depth">
  </link>
  <joint name="base_link_right flank depth_joint" type="fixed">
    <parent link="base_link"/>
    <child link="right flank depth"/>
    <origin xyz="-0.135678 -0.110163 0.06561" rpy="0.000005 0.413171 -1.570794"/>
  </joint>
  <link name="right flank camera">
  </link>
  <joint name="base_link_right flank camera_joint" type="fixed">
    <parent link="base_link"/>
    <child link="right flank camera"/>
    <origin xyz="-0.135678 -0.110163 0.06561" rpy="-1.570791 0.413171 -3.141591"/>
  </joint>
  <link name="left head depth">
  </link>
  <joint name="base_link_left head depth_joint" type="fixed">
    <parent link="base_link"/>
    <child link="left head depth"/>
    <origin xyz="0.46325 0.045111 0.029551" rpy="-0.158862 0.433786 -0.408004"/>
  </joint>
  <link name="left head camera">
  </link>
  <joint name="base_link_left head camera_joint" type="fixed">
    <parent link="base_link"/>
    <child link="left head camera"/>
    <origin xyz="0.46325 0.045111 0.029551" rpy="-1.729658 0.433786 -1.9788"/>
  </joint>
  <link name="right head depth">
  </link>
  <joint name="base_link_right head depth_joint" type="fixed">
    <parent link="base_link"/>
    <child link="right head depth"/>
    <origin xyz="0.462603 -0.044896 0.027972" rpy="0.193959 0.3931 0.409605"/>
  </joint>
  <link name="right head camera">
  </link>
  <joint name="base_link_right head camera_joint" type="fixed">
    <parent link="base_link"/>
    <child link="right head camera"/>
    <origin xyz="0.462603 -0.044896 0.027972" rpy="-1.376837 0.3931 -1.161192"/>
  </joint>
  <link name="left bottom led">
  </link>
  <joint name="base_link_left bottom led_joint" type="fixed">
    <parent link="base_link"/>
    <child link="left bottom led"/>
    <origin xyz="0.481728 0.081967 0.001191" rpy="1.873112 0.329178 0.767486"/>
  </joint>
  <link name="right bottom led">
  </link>
  <joint name="base_link_right bottom led_joint" type="fixed">
    <parent link="base_link"/>
    <child link="right bottom led"/>
    <origin xyz="0.481728 -0.081963 0.001193" rpy="1.279539 0.338923 -0.733718"/>
  </joint>
  <link name="right middle down led">
  </link>
  <joint name="base_link_right middle down led_joint" type="fixed">
    <parent link="base_link"/>
    <child link="right middle down led"/>
    <origin xyz="0.489879 -0.081963 0.018293" rpy="1.279539 0.338923 -0.733718"/>
  </joint>
  <link name="right middle up led">
  </link>
  <joint name="base_link_right middle up led_joint" type="fixed">
    <parent link="base_link"/>
    <child link="right middle up led"/>
    <origin xyz="0.497601 -0.081963 0.034493" rpy="1.279539 0.338923 -0.733718"/>
  </joint>
  <link name="right top led">
  </link>
  <joint name="base_link_right top led_joint" type="fixed">
    <parent link="base_link"/>
    <child link="right top led"/>
    <origin xyz="0.505323 -0.081963 0.050723" rpy="1.279539 0.338923 -0.733718"/>
  </joint>
  <link name="left middle down led">
  </link>
  <joint name="base_link_left middle down led_joint" type="fixed">
    <parent link="base_link"/>
    <child link="left middle down led"/>
    <origin xyz="0.489879 0.081966 0.018291" rpy="1.873112 0.329178 0.767486"/>
  </joint>
  <link name="left middle up led">
  </link>
  <joint name="base_link_left middle up led_joint" type="fixed">
    <parent link="base_link"/>
    <child link="left middle up led"/>
    <origin xyz="0.497601 0.081967 0.034491" rpy="1.873112 0.329178 0.767486"/>
  </joint>
  <link name="left top led">
  </link>
  <joint name="base_link_left top led_joint" type="fixed">
    <parent link="base_link"/>
    <child link="left top led"/>
    <origin xyz="0.505323 0.081967 0.050721" rpy="1.873112 0.329178 0.767486"/>
  </joint>
  <link name="inertial unit">
  </link>
  <joint name="base_link_inertial unit_joint" type="fixed">
    <parent link="base_link"/>
    <child link="inertial unit"/>
    <origin xyz="0 0 0" rpy="0 0 0"/>
  </joint>
  <link name="gyro">
  </link>
  <joint name="base_link_gyro_joint" type="fixed">
    <parent link="base_link"/>
    <child link="gyro"/>
    <origin xyz="0 0 0" rpy="0 0 0"/>
  </joint>
  <link name="gps">
  </link>
  <joint name="base_link_gps_joint" type="fixed">
    <parent link="base_link"/>
    <child link="gps"/>
    <origin xyz="0 0 0" rpy="0 0 0"/>
  </joint>
  <link name="accelerometer">
  </link>
  <joint name="base_link_accelerometer_joint" type="fixed">
    <parent link="base_link"/>
    <child link="accelerometer"/>
    <origin xyz="0 0 0" rpy="0 0 0"/>
  </joint>
</robot>
